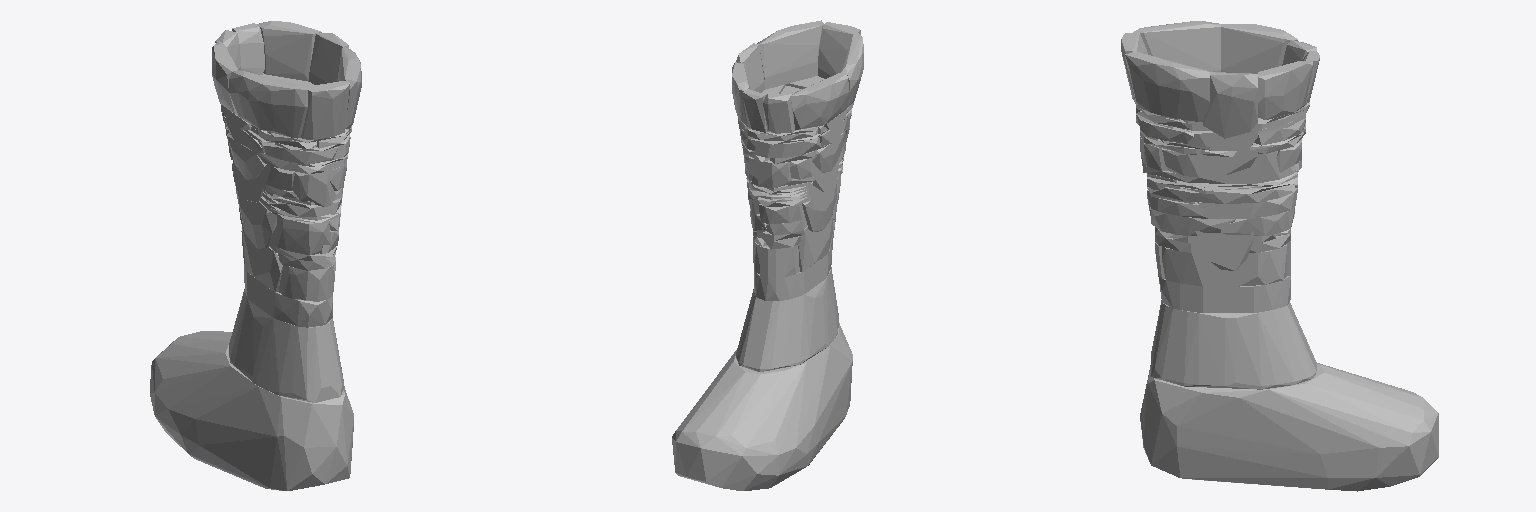
--- Render facts (derived) ---
3 views of the same robot in one strip: view 1: azimuth 30°, elevation 25°; view 2: azimuth 150°, elevation 25°; view 3: azimuth 270°, elevation 25° (orthographic).
Model root with 82 links and 81 joints (81 fixed), rooted at link_ca95ce22929fd53a570c6c691c987a8_convex_piece_0, posed all joints at 0.
Visible links, largest first — view 1: link_ca95ce22929fd53a570c6c691c987a8_convex_piece_0, link_ca95ce22929fd53a570c6c691c987a8_convex_piece_1, link_ca95ce22929fd53a570c6c691c987a8_convex_piece_11, link_ca95ce22929fd53a570c6c691c987a8_convex_piece_15, link_ca95ce22929fd53a570c6c691c987a8_convex_piece_2, link_ca95ce22929fd53a570c6c691c987a8_convex_piece_12, link_ca95ce22929fd53a570c6c691c987a8_convex_piece_54, link_ca95ce22929fd53a570c6c691c987a8_convex_piece_33, link_ca95ce22929fd53a570c6c691c987a8_convex_piece_14, link_ca95ce22929fd53a570c6c691c987a8_convex_piece_3, link_ca95ce22929fd53a570c6c691c987a8_convex_piece_7, link_ca95ce22929fd53a570c6c691c987a8_convex_piece_46 (+8 smaller); view 2: link_ca95ce22929fd53a570c6c691c987a8_convex_piece_0, link_ca95ce22929fd53a570c6c691c987a8_convex_piece_1, link_ca95ce22929fd53a570c6c691c987a8_convex_piece_5, link_ca95ce22929fd53a570c6c691c987a8_convex_piece_13, link_ca95ce22929fd53a570c6c691c987a8_convex_piece_2, link_ca95ce22929fd53a570c6c691c987a8_convex_piece_12, link_ca95ce22929fd53a570c6c691c987a8_convex_piece_35, link_ca95ce22929fd53a570c6c691c987a8_convex_piece_21, link_ca95ce22929fd53a570c6c691c987a8_convex_piece_3, link_ca95ce22929fd53a570c6c691c987a8_convex_piece_7, link_ca95ce22929fd53a570c6c691c987a8_convex_piece_11, link_ca95ce22929fd53a570c6c691c987a8_convex_piece_45 (+6 smaller); view 3: link_ca95ce22929fd53a570c6c691c987a8_convex_piece_0, link_ca95ce22929fd53a570c6c691c987a8_convex_piece_1, link_ca95ce22929fd53a570c6c691c987a8_convex_piece_5, link_ca95ce22929fd53a570c6c691c987a8_convex_piece_2, link_ca95ce22929fd53a570c6c691c987a8_convex_piece_11, link_ca95ce22929fd53a570c6c691c987a8_convex_piece_14, link_ca95ce22929fd53a570c6c691c987a8_convex_piece_13, link_ca95ce22929fd53a570c6c691c987a8_convex_piece_15, link_ca95ce22929fd53a570c6c691c987a8_convex_piece_34, link_ca95ce22929fd53a570c6c691c987a8_convex_piece_6, link_ca95ce22929fd53a570c6c691c987a8_convex_piece_36, link_ca95ce22929fd53a570c6c691c987a8_convex_piece_43 (+13 smaller).
Boxes of the visible links, x1,y1,x2,y2 form: link_ca95ce22929fd53a570c6c691c987a8_convex_piece_0: [150, 331, 353, 490]; link_ca95ce22929fd53a570c6c691c987a8_convex_piece_1: [229, 289, 344, 402]; link_ca95ce22929fd53a570c6c691c987a8_convex_piece_11: [229, 70, 307, 138]; link_ca95ce22929fd53a570c6c691c987a8_convex_piece_15: [257, 21, 321, 81]; link_ca95ce22929fd53a570c6c691c987a8_convex_piece_2: [244, 264, 332, 327]; link_ca95ce22929fd53a570c6c691c987a8_convex_piece_12: [301, 80, 349, 139]; link_ca95ce22929fd53a570c6c691c987a8_convex_piece_54: [271, 216, 330, 254]; link_ca95ce22929fd53a570c6c691c987a8_convex_piece_33: [278, 265, 333, 301]; link_ca95ce22929fd53a570c6c691c987a8_convex_piece_14: [309, 33, 348, 84]; link_ca95ce22929fd53a570c6c691c987a8_convex_piece_3: [242, 228, 282, 292]; link_ca95ce22929fd53a570c6c691c987a8_convex_piece_7: [236, 190, 276, 248]; link_ca95ce22929fd53a570c6c691c987a8_convex_piece_46: [292, 171, 335, 206]; link_ca95ce22929fd53a570c6c691c987a8_convex_piece_0: [672, 323, 852, 490]; link_ca95ce22929fd53a570c6c691c987a8_convex_piece_1: [736, 267, 838, 371]; link_ca95ce22929fd53a570c6c691c987a8_convex_piece_5: [757, 20, 823, 89]; link_ca95ce22929fd53a570c6c691c987a8_convex_piece_13: [790, 72, 849, 130]; link_ca95ce22929fd53a570c6c691c987a8_convex_piece_2: [754, 245, 832, 300]; link_ca95ce22929fd53a570c6c691c987a8_convex_piece_12: [818, 22, 860, 78]; link_ca95ce22929fd53a570c6c691c987a8_convex_piece_35: [760, 245, 799, 277]; link_ca95ce22929fd53a570c6c691c987a8_convex_piece_21: [763, 94, 794, 133]; link_ca95ce22929fd53a570c6c691c987a8_convex_piece_3: [798, 215, 832, 271]; link_ca95ce22929fd53a570c6c691c987a8_convex_piece_7: [802, 182, 836, 231]; link_ca95ce22929fd53a570c6c691c987a8_convex_piece_11: [841, 33, 863, 111]; link_ca95ce22929fd53a570c6c691c987a8_convex_piece_45: [753, 137, 822, 157]; link_ca95ce22929fd53a570c6c691c987a8_convex_piece_0: [1140, 363, 1438, 491]; link_ca95ce22929fd53a570c6c691c987a8_convex_piece_1: [1151, 300, 1316, 389]; link_ca95ce22929fd53a570c6c691c987a8_convex_piece_5: [1125, 52, 1209, 121]; link_ca95ce22929fd53a570c6c691c987a8_convex_piece_2: [1158, 276, 1290, 312]; link_ca95ce22929fd53a570c6c691c987a8_convex_piece_11: [1133, 21, 1220, 71]; link_ca95ce22929fd53a570c6c691c987a8_convex_piece_14: [1203, 72, 1257, 138]; link_ca95ce22929fd53a570c6c691c987a8_convex_piece_13: [1221, 24, 1297, 73]; link_ca95ce22929fd53a570c6c691c987a8_convex_piece_15: [1258, 61, 1312, 119]; link_ca95ce22929fd53a570c6c691c987a8_convex_piece_34: [1162, 246, 1238, 286]; link_ca95ce22929fd53a570c6c691c987a8_convex_piece_6: [1195, 231, 1253, 270]; link_ca95ce22929fd53a570c6c691c987a8_convex_piece_36: [1239, 244, 1286, 286]; link_ca95ce22929fd53a570c6c691c987a8_convex_piece_43: [1197, 192, 1294, 218].
Size in the robot's own frame: 0.0195 by 0.0454 by 0.0671 metres.
82 mesh visuals loaded from 82 distinct referenced files (82 OBJ).

URDF robot description (root):
<robot name="root">
  <link name="link_ca95ce22929fd53a570c6c691c987a8_convex_piece_0">
    <inertial>
      <origin rpy="0 0 0" xyz="0 0 0"/>
      <mass value="5.07E-06"/>
      <inertia ixx="2.37E-09" ixy="3.16E-13" ixz="5.63E-12" iyy="1.92E-09" iyz="-3.63E-10" izz="6.48E-10"/>
    </inertial>
    <visual>
      <origin rpy="0 0 0" xyz="0 0 0"/>
      <geometry>
        <mesh filename="ca95ce22929fd53a570c6c691c987a8_convex_piece_0.obj" scale="1.0000E+00"/>
      </geometry>
      <material name="">
        <color rgba="7.50E-01 7.50E-01 7.50E-01 1"/>
      </material>
    </visual>
    <collision>
      <origin rpy="0 0 0" xyz="0 0 0"/>
      <geometry>
        <mesh filename="ca95ce22929fd53a570c6c691c987a8_convex_piece_0.obj" scale="1.0000E+00"/>
      </geometry>
    </collision>
  </link>
  <link name="link_ca95ce22929fd53a570c6c691c987a8_convex_piece_1">
    <inertial>
      <origin rpy="0 0 0" xyz="0 0 0"/>
      <mass value="1.33E-06"/>
      <inertia ixx="-1.21E-10" ixy="-6.57E-12" ixz="-7.08E-12" iyy="-2.12E-10" iyz="7.07E-11" izz="1.15E-10"/>
    </inertial>
    <visual>
      <origin rpy="0 0 0" xyz="0 0 0"/>
      <geometry>
        <mesh filename="ca95ce22929fd53a570c6c691c987a8_convex_piece_1.obj" scale="1.0000E+00"/>
      </geometry>
      <material name="">
        <color rgba="7.50E-01 7.50E-01 7.50E-01 1"/>
      </material>
    </visual>
    <collision>
      <origin rpy="0 0 0" xyz="0 0 0"/>
      <geometry>
        <mesh filename="ca95ce22929fd53a570c6c691c987a8_convex_piece_1.obj" scale="1.0000E+00"/>
      </geometry>
    </collision>
  </link>
  <joint name="link_ca95ce22929fd53a570c6c691c987a8_convex_piece_1_joint" type="fixed">
    <origin rpy="0 0 0" xyz="0 0 0"/>
    <parent link="link_ca95ce22929fd53a570c6c691c987a8_convex_piece_0"/>
    <child link="link_ca95ce22929fd53a570c6c691c987a8_convex_piece_1"/>
  </joint>
  <link name="link_ca95ce22929fd53a570c6c691c987a8_convex_piece_2">
    <inertial>
      <origin rpy="0 0 0" xyz="0 0 0"/>
      <mass value="3.63E-07"/>
      <inertia ixx="-8.63E-11" ixy="-1.48E-12" ixz="7.81E-13" iyy="-1.13E-10" iyz="-5.55E-13" izz="3.13E-11"/>
    </inertial>
    <visual>
      <origin rpy="0 0 0" xyz="0 0 0"/>
      <geometry>
        <mesh filename="ca95ce22929fd53a570c6c691c987a8_convex_piece_2.obj" scale="1.0000E+00"/>
      </geometry>
      <material name="">
        <color rgba="7.50E-01 7.50E-01 7.50E-01 1"/>
      </material>
    </visual>
    <collision>
      <origin rpy="0 0 0" xyz="0 0 0"/>
      <geometry>
        <mesh filename="ca95ce22929fd53a570c6c691c987a8_convex_piece_2.obj" scale="1.0000E+00"/>
      </geometry>
    </collision>
  </link>
  <joint name="link_ca95ce22929fd53a570c6c691c987a8_convex_piece_2_joint" type="fixed">
    <origin rpy="0 0 0" xyz="0 0 0"/>
    <parent link="link_ca95ce22929fd53a570c6c691c987a8_convex_piece_1"/>
    <child link="link_ca95ce22929fd53a570c6c691c987a8_convex_piece_2"/>
  </joint>
  <link name="link_ca95ce22929fd53a570c6c691c987a8_convex_piece_3">
    <inertial>
      <origin rpy="0 0 0" xyz="0 0 0"/>
      <mass value="3.62E-08"/>
      <inertia ixx="-9.80E-12" ixy="1.11E-12" ixz="1.48E-14" iyy="-1.16E-11" iyz="-1.64E-12" izz="2.86E-12"/>
    </inertial>
    <visual>
      <origin rpy="0 0 0" xyz="0 0 0"/>
      <geometry>
        <mesh filename="ca95ce22929fd53a570c6c691c987a8_convex_piece_3.obj" scale="1.0000E+00"/>
      </geometry>
      <material name="">
        <color rgba="7.50E-01 7.50E-01 7.50E-01 1"/>
      </material>
    </visual>
    <collision>
      <origin rpy="0 0 0" xyz="0 0 0"/>
      <geometry>
        <mesh filename="ca95ce22929fd53a570c6c691c987a8_convex_piece_3.obj" scale="1.0000E+00"/>
      </geometry>
    </collision>
  </link>
  <joint name="link_ca95ce22929fd53a570c6c691c987a8_convex_piece_3_joint" type="fixed">
    <origin rpy="0 0 0" xyz="0 0 0"/>
    <parent link="link_ca95ce22929fd53a570c6c691c987a8_convex_piece_2"/>
    <child link="link_ca95ce22929fd53a570c6c691c987a8_convex_piece_3"/>
  </joint>
  <link name="link_ca95ce22929fd53a570c6c691c987a8_convex_piece_4">
    <inertial>
      <origin rpy="0 0 0" xyz="0 0 0"/>
      <mass value="2.13E-08"/>
      <inertia ixx="1.05E-12" ixy="1.07E-12" ixz="-2.39E-12" iyy="6.35E-13" iyz="-3.75E-12" izz="2.20E-12"/>
    </inertial>
    <visual>
      <origin rpy="0 0 0" xyz="0 0 0"/>
      <geometry>
        <mesh filename="ca95ce22929fd53a570c6c691c987a8_convex_piece_4.obj" scale="1.0000E+00"/>
      </geometry>
      <material name="">
        <color rgba="7.50E-01 7.50E-01 7.50E-01 1"/>
      </material>
    </visual>
    <collision>
      <origin rpy="0 0 0" xyz="0 0 0"/>
      <geometry>
        <mesh filename="ca95ce22929fd53a570c6c691c987a8_convex_piece_4.obj" scale="1.0000E+00"/>
      </geometry>
    </collision>
  </link>
  <joint name="link_ca95ce22929fd53a570c6c691c987a8_convex_piece_4_joint" type="fixed">
    <origin rpy="0 0 0" xyz="0 0 0"/>
    <parent link="link_ca95ce22929fd53a570c6c691c987a8_convex_piece_3"/>
    <child link="link_ca95ce22929fd53a570c6c691c987a8_convex_piece_4"/>
  </joint>
  <link name="link_ca95ce22929fd53a570c6c691c987a8_convex_piece_5">
    <inertial>
      <origin rpy="0 0 0" xyz="0 0 0"/>
      <mass value="1.53E-07"/>
      <inertia ixx="1.21E-10" ixy="-1.36E-11" ixz="2.74E-11" iyy="8.74E-11" iyz="-7.73E-11" izz="4.51E-11"/>
    </inertial>
    <visual>
      <origin rpy="0 0 0" xyz="0 0 0"/>
      <geometry>
        <mesh filename="ca95ce22929fd53a570c6c691c987a8_convex_piece_5.obj" scale="1.0000E+00"/>
      </geometry>
      <material name="">
        <color rgba="7.50E-01 7.50E-01 7.50E-01 1"/>
      </material>
    </visual>
    <collision>
      <origin rpy="0 0 0" xyz="0 0 0"/>
      <geometry>
        <mesh filename="ca95ce22929fd53a570c6c691c987a8_convex_piece_5.obj" scale="1.0000E+00"/>
      </geometry>
    </collision>
  </link>
  <joint name="link_ca95ce22929fd53a570c6c691c987a8_convex_piece_5_joint" type="fixed">
    <origin rpy="0 0 0" xyz="0 0 0"/>
    <parent link="link_ca95ce22929fd53a570c6c691c987a8_convex_piece_4"/>
    <child link="link_ca95ce22929fd53a570c6c691c987a8_convex_piece_5"/>
  </joint>
  <link name="link_ca95ce22929fd53a570c6c691c987a8_convex_piece_6">
    <inertial>
      <origin rpy="0 0 0" xyz="0 0 0"/>
      <mass value="1.18E-08"/>
      <inertia ixx="-3.08E-12" ixy="-4.77E-13" ixz="3.13E-13" iyy="-3.43E-12" iyz="-8.00E-13" izz="1.03E-12"/>
    </inertial>
    <visual>
      <origin rpy="0 0 0" xyz="0 0 0"/>
      <geometry>
        <mesh filename="ca95ce22929fd53a570c6c691c987a8_convex_piece_6.obj" scale="1.0000E+00"/>
      </geometry>
      <material name="">
        <color rgba="7.50E-01 7.50E-01 7.50E-01 1"/>
      </material>
    </visual>
    <collision>
      <origin rpy="0 0 0" xyz="0 0 0"/>
      <geometry>
        <mesh filename="ca95ce22929fd53a570c6c691c987a8_convex_piece_6.obj" scale="1.0000E+00"/>
      </geometry>
    </collision>
  </link>
  <joint name="link_ca95ce22929fd53a570c6c691c987a8_convex_piece_6_joint" type="fixed">
    <origin rpy="0 0 0" xyz="0 0 0"/>
    <parent link="link_ca95ce22929fd53a570c6c691c987a8_convex_piece_5"/>
    <child link="link_ca95ce22929fd53a570c6c691c987a8_convex_piece_6"/>
  </joint>
  <link name="link_ca95ce22929fd53a570c6c691c987a8_convex_piece_7">
    <inertial>
      <origin rpy="0 0 0" xyz="0 0 0"/>
      <mass value="3.21E-08"/>
      <inertia ixx="-6.72E-12" ixy="1.23E-12" ixz="-1.10E-12" iyy="-7.97E-12" iyz="-3.17E-12" izz="2.77E-12"/>
    </inertial>
    <visual>
      <origin rpy="0 0 0" xyz="0 0 0"/>
      <geometry>
        <mesh filename="ca95ce22929fd53a570c6c691c987a8_convex_piece_7.obj" scale="1.0000E+00"/>
      </geometry>
      <material name="">
        <color rgba="7.50E-01 7.50E-01 7.50E-01 1"/>
      </material>
    </visual>
    <collision>
      <origin rpy="0 0 0" xyz="0 0 0"/>
      <geometry>
        <mesh filename="ca95ce22929fd53a570c6c691c987a8_convex_piece_7.obj" scale="1.0000E+00"/>
      </geometry>
    </collision>
  </link>
  <joint name="link_ca95ce22929fd53a570c6c691c987a8_convex_piece_7_joint" type="fixed">
    <origin rpy="0 0 0" xyz="0 0 0"/>
    <parent link="link_ca95ce22929fd53a570c6c691c987a8_convex_piece_6"/>
    <child link="link_ca95ce22929fd53a570c6c691c987a8_convex_piece_7"/>
  </joint>
  <link name="link_ca95ce22929fd53a570c6c691c987a8_convex_piece_8">
    <inertial>
      <origin rpy="0 0 0" xyz="0 0 0"/>
      <mass value="1.56E-08"/>
      <inertia ixx="1.12E-12" ixy="-8.99E-13" ixz="1.15E-12" iyy="-1.41E-12" iyz="-3.71E-12" izz="3.22E-12"/>
    </inertial>
    <visual>
      <origin rpy="0 0 0" xyz="0 0 0"/>
      <geometry>
        <mesh filename="ca95ce22929fd53a570c6c691c987a8_convex_piece_8.obj" scale="1.0000E+00"/>
      </geometry>
      <material name="">
        <color rgba="7.50E-01 7.50E-01 7.50E-01 1"/>
      </material>
    </visual>
    <collision>
      <origin rpy="0 0 0" xyz="0 0 0"/>
      <geometry>
        <mesh filename="ca95ce22929fd53a570c6c691c987a8_convex_piece_8.obj" scale="1.0000E+00"/>
      </geometry>
    </collision>
  </link>
  <joint name="link_ca95ce22929fd53a570c6c691c987a8_convex_piece_8_joint" type="fixed">
    <origin rpy="0 0 0" xyz="0 0 0"/>
    <parent link="link_ca95ce22929fd53a570c6c691c987a8_convex_piece_7"/>
    <child link="link_ca95ce22929fd53a570c6c691c987a8_convex_piece_8"/>
  </joint>
  <link name="link_ca95ce22929fd53a570c6c691c987a8_convex_piece_9">
    <inertial>
      <origin rpy="0 0 0" xyz="0 0 0"/>
      <mass value="1.73E-08"/>
      <inertia ixx="-2.15E-12" ixy="3.61E-13" ixz="-6.61E-13" iyy="-2.64E-12" iyz="-1.81E-12" izz="9.20E-13"/>
    </inertial>
    <visual>
      <origin rpy="0 0 0" xyz="0 0 0"/>
      <geometry>
        <mesh filename="ca95ce22929fd53a570c6c691c987a8_convex_piece_9.obj" scale="1.0000E+00"/>
      </geometry>
      <material name="">
        <color rgba="7.50E-01 7.50E-01 7.50E-01 1"/>
      </material>
    </visual>
    <collision>
      <origin rpy="0 0 0" xyz="0 0 0"/>
      <geometry>
        <mesh filename="ca95ce22929fd53a570c6c691c987a8_convex_piece_9.obj" scale="1.0000E+00"/>
      </geometry>
    </collision>
  </link>
  <joint name="link_ca95ce22929fd53a570c6c691c987a8_convex_piece_9_joint" type="fixed">
    <origin rpy="0 0 0" xyz="0 0 0"/>
    <parent link="link_ca95ce22929fd53a570c6c691c987a8_convex_piece_8"/>
    <child link="link_ca95ce22929fd53a570c6c691c987a8_convex_piece_9"/>
  </joint>
  <link name="link_ca95ce22929fd53a570c6c691c987a8_convex_piece_10">
    <inertial>
      <origin rpy="0 0 0" xyz="0 0 0"/>
      <mass value="8.10E-09"/>
      <inertia ixx="5.58E-13" ixy="-4.16E-13" ixz="1.09E-12" iyy="4.91E-13" iyz="-1.43E-12" izz="8.46E-13"/>
    </inertial>
    <visual>
      <origin rpy="0 0 0" xyz="0 0 0"/>
      <geometry>
        <mesh filename="ca95ce22929fd53a570c6c691c987a8_convex_piece_10.obj" scale="1.0000E+00"/>
      </geometry>
      <material name="">
        <color rgba="7.50E-01 7.50E-01 7.50E-01 1"/>
      </material>
    </visual>
    <collision>
      <origin rpy="0 0 0" xyz="0 0 0"/>
      <geometry>
        <mesh filename="ca95ce22929fd53a570c6c691c987a8_convex_piece_10.obj" scale="1.0000E+00"/>
      </geometry>
    </collision>
  </link>
  <joint name="link_ca95ce22929fd53a570c6c691c987a8_convex_piece_10_joint" type="fixed">
    <origin rpy="0 0 0" xyz="0 0 0"/>
    <parent link="link_ca95ce22929fd53a570c6c691c987a8_convex_piece_9"/>
    <child link="link_ca95ce22929fd53a570c6c691c987a8_convex_piece_10"/>
  </joint>
  <link name="link_ca95ce22929fd53a570c6c691c987a8_convex_piece_11">
    <inertial>
      <origin rpy="0 0 0" xyz="0 0 0"/>
      <mass value="1.45E-07"/>
      <inertia ixx="1.07E-10" ixy="1.35E-11" ixz="-2.78E-11" iyy="8.30E-11" iyz="-6.65E-11" izz="3.74E-11"/>
    </inertial>
    <visual>
      <origin rpy="0 0 0" xyz="0 0 0"/>
      <geometry>
        <mesh filename="ca95ce22929fd53a570c6c691c987a8_convex_piece_11.obj" scale="1.0000E+00"/>
      </geometry>
      <material name="">
        <color rgba="7.50E-01 7.50E-01 7.50E-01 1"/>
      </material>
    </visual>
    <collision>
      <origin rpy="0 0 0" xyz="0 0 0"/>
      <geometry>
        <mesh filename="ca95ce22929fd53a570c6c691c987a8_convex_piece_11.obj" scale="1.0000E+00"/>
      </geometry>
    </collision>
  </link>
  <joint name="link_ca95ce22929fd53a570c6c691c987a8_convex_piece_11_joint" type="fixed">
    <origin rpy="0 0 0" xyz="0 0 0"/>
    <parent link="link_ca95ce22929fd53a570c6c691c987a8_convex_piece_10"/>
    <child link="link_ca95ce22929fd53a570c6c691c987a8_convex_piece_11"/>
  </joint>
  <link name="link_ca95ce22929fd53a570c6c691c987a8_convex_piece_12">
    <inertial>
      <origin rpy="0 0 0" xyz="0 0 0"/>
      <mass value="8.89E-08"/>
      <inertia ixx="8.29E-11" ixy="1.53E-12" ixz="-1.74E-12" iyy="4.64E-11" iyz="-5.64E-11" izz="3.71E-11"/>
    </inertial>
    <visual>
      <origin rpy="0 0 0" xyz="0 0 0"/>
      <geometry>
        <mesh filename="ca95ce22929fd53a570c6c691c987a8_convex_piece_12.obj" scale="1.0000E+00"/>
      </geometry>
      <material name="">
        <color rgba="7.50E-01 7.50E-01 7.50E-01 1"/>
      </material>
    </visual>
    <collision>
      <origin rpy="0 0 0" xyz="0 0 0"/>
      <geometry>
        <mesh filename="ca95ce22929fd53a570c6c691c987a8_convex_piece_12.obj" scale="1.0000E+00"/>
      </geometry>
    </collision>
  </link>
  <joint name="link_ca95ce22929fd53a570c6c691c987a8_convex_piece_12_joint" type="fixed">
    <origin rpy="0 0 0" xyz="0 0 0"/>
    <parent link="link_ca95ce22929fd53a570c6c691c987a8_convex_piece_11"/>
    <child link="link_ca95ce22929fd53a570c6c691c987a8_convex_piece_12"/>
  </joint>
  <link name="link_ca95ce22929fd53a570c6c691c987a8_convex_piece_13">
    <inertial>
      <origin rpy="0 0 0" xyz="0 0 0"/>
      <mass value="1.14E-07"/>
      <inertia ixx="5.89E-11" ixy="3.20E-12" ixz="-2.35E-11" iyy="6.33E-11" iyz="-1.56E-11" izz="7.98E-12"/>
    </inertial>
    <visual>
      <origin rpy="0 0 0" xyz="0 0 0"/>
      <geometry>
        <mesh filename="ca95ce22929fd53a570c6c691c987a8_convex_piece_13.obj" scale="1.0000E+00"/>
      </geometry>
      <material name="">
        <color rgba="7.50E-01 7.50E-01 7.50E-01 1"/>
      </material>
    </visual>
    <collision>
      <origin rpy="0 0 0" xyz="0 0 0"/>
      <geometry>
        <mesh filename="ca95ce22929fd53a570c6c691c987a8_convex_piece_13.obj" scale="1.0000E+00"/>
      </geometry>
    </collision>
  </link>
  <joint name="link_ca95ce22929fd53a570c6c691c987a8_convex_piece_13_joint" type="fixed">
    <origin rpy="0 0 0" xyz="0 0 0"/>
    <parent link="link_ca95ce22929fd53a570c6c691c987a8_convex_piece_12"/>
    <child link="link_ca95ce22929fd53a570c6c691c987a8_convex_piece_13"/>
  </joint>
  <link name="link_ca95ce22929fd53a570c6c691c987a8_convex_piece_14">
    <inertial>
      <origin rpy="0 0 0" xyz="0 0 0"/>
      <mass value="7.69E-08"/>
      <inertia ixx="3.92E-11" ixy="-4.31E-12" ixz="1.84E-11" iyy="4.09E-11" iyz="-1.76E-11" izz="8.86E-12"/>
    </inertial>
    <visual>
      <origin rpy="0 0 0" xyz="0 0 0"/>
      <geometry>
        <mesh filename="ca95ce22929fd53a570c6c691c987a8_convex_piece_14.obj" scale="1.0000E+00"/>
      </geometry>
      <material name="">
        <color rgba="7.50E-01 7.50E-01 7.50E-01 1"/>
      </material>
    </visual>
    <collision>
      <origin rpy="0 0 0" xyz="0 0 0"/>
      <geometry>
        <mesh filename="ca95ce22929fd53a570c6c691c987a8_convex_piece_14.obj" scale="1.0000E+00"/>
      </geometry>
    </collision>
  </link>
  <joint name="link_ca95ce22929fd53a570c6c691c987a8_convex_piece_14_joint" type="fixed">
    <origin rpy="0 0 0" xyz="0 0 0"/>
    <parent link="link_ca95ce22929fd53a570c6c691c987a8_convex_piece_13"/>
    <child link="link_ca95ce22929fd53a570c6c691c987a8_convex_piece_14"/>
  </joint>
  <link name="link_ca95ce22929fd53a570c6c691c987a8_convex_piece_15">
    <inertial>
      <origin rpy="0 0 0" xyz="0 0 0"/>
      <mass value="8.61E-08"/>
      <inertia ixx="4.32E-11" ixy="2.10E-14" ixz="1.40E-11" iyy="4.60E-11" iyz="-2.10E-12" izz="2.76E-12"/>
    </inertial>
    <visual>
      <origin rpy="0 0 0" xyz="0 0 0"/>
      <geometry>
        <mesh filename="ca95ce22929fd53a570c6c691c987a8_convex_piece_15.obj" scale="1.0000E+00"/>
      </geometry>
      <material name="">
        <color rgba="7.50E-01 7.50E-01 7.50E-01 1"/>
      </material>
    </visual>
    <collision>
      <origin rpy="0 0 0" xyz="0 0 0"/>
      <geometry>
        <mesh filename="ca95ce22929fd53a570c6c691c987a8_convex_piece_15.obj" scale="1.0000E+00"/>
      </geometry>
    </collision>
  </link>
  <joint name="link_ca95ce22929fd53a570c6c691c987a8_convex_piece_15_joint" type="fixed">
    <origin rpy="0 0 0" xyz="0 0 0"/>
    <parent link="link_ca95ce22929fd53a570c6c691c987a8_convex_piece_14"/>
    <child link="link_ca95ce22929fd53a570c6c691c987a8_convex_piece_15"/>
  </joint>
  <link name="link_ca95ce22929fd53a570c6c691c987a8_convex_piece_16">
    <inertial>
      <origin rpy="0 0 0" xyz="0 0 0"/>
      <mass value="1.97E-08"/>
      <inertia ixx="-3.30E-12" ixy="1.79E-13" ixz="-3.18E-13" iyy="-3.36E-12" iyz="-1.36E-12" izz="3.77E-13"/>
    </inertial>
    <visual>
      <origin rpy="0 0 0" xyz="0 0 0"/>
      <geometry>
        <mesh filename="ca95ce22929fd53a570c6c691c987a8_convex_piece_16.obj" scale="1.0000E+00"/>
      </geometry>
      <material name="">
        <color rgba="7.50E-01 7.50E-01 7.50E-01 1"/>
      </material>
    </visual>
    <collision>
      <origin rpy="0 0 0" xyz="0 0 0"/>
      <geometry>
        <mesh filename="ca95ce22929fd53a570c6c691c987a8_convex_piece_16.obj" scale="1.0000E+00"/>
      </geometry>
    </collision>
  </link>
  <joint name="link_ca95ce22929fd53a570c6c691c987a8_convex_piece_16_joint" type="fixed">
    <origin rpy="0 0 0" xyz="0 0 0"/>
    <parent link="link_ca95ce22929fd53a570c6c691c987a8_convex_piece_15"/>
    <child link="link_ca95ce22929fd53a570c6c691c987a8_convex_piece_16"/>
  </joint>
  <link name="link_ca95ce22929fd53a570c6c691c987a8_convex_piece_17">
    <inertial>
      <origin rpy="0 0 0" xyz="0 0 0"/>
      <mass value="6.15E-09"/>
      <inertia ixx="-6.59E-13" ixy="2.76E-13" ixz="-4.33E-13" iyy="-8.22E-13" iyz="-8.48E-13" izz="5.66E-13"/>
    </inertial>
    <visual>
      <origin rpy="0 0 0" xyz="0 0 0"/>
      <geometry>
        <mesh filename="ca95ce22929fd53a570c6c691c987a8_convex_piece_17.obj" scale="1.0000E+00"/>
      </geometry>
      <material name="">
        <color rgba="7.50E-01 7.50E-01 7.50E-01 1"/>
      </material>
    </visual>
    <collision>
      <origin rpy="0 0 0" xyz="0 0 0"/>
      <geometry>
        <mesh filename="ca95ce22929fd53a570c6c691c987a8_convex_piece_17.obj" scale="1.0000E+00"/>
      </geometry>
    </collision>
  </link>
  <joint name="link_ca95ce22929fd53a570c6c691c987a8_convex_piece_17_joint" type="fixed">
    <origin rpy="0 0 0" xyz="0 0 0"/>
    <parent link="link_ca95ce22929fd53a570c6c691c987a8_convex_piece_16"/>
    <child link="link_ca95ce22929fd53a570c6c691c987a8_convex_piece_17"/>
  </joint>
  <link name="link_ca95ce22929fd53a570c6c691c987a8_convex_piece_18">
    <inertial>
      <origin rpy="0 0 0" xyz="0 0 0"/>
      <mass value="2.71E-08"/>
      <inertia ixx="-3.85E-12" ixy="7.25E-14" ixz="3.62E-14" iyy="-3.86E-12" iyz="-1.94E-12" izz="4.58E-13"/>
    </inertial>
    <visual>
      <origin rpy="0 0 0" xyz="0 0 0"/>
      <geometry>
        <mesh filename="ca95ce22929fd53a570c6c691c987a8_convex_piece_18.obj" scale="1.0000E+00"/>
      </geometry>
      <material name="">
        <color rgba="7.50E-01 7.50E-01 7.50E-01 1"/>
      </material>
    </visual>
    <collision>
      <origin rpy="0 0 0" xyz="0 0 0"/>
      <geometry>
        <mesh filename="ca95ce22929fd53a570c6c691c987a8_convex_piece_18.obj" scale="1.0000E+00"/>
      </geometry>
    </collision>
  </link>
  <joint name="link_ca95ce22929fd53a570c6c691c987a8_convex_piece_18_joint" type="fixed">
    <origin rpy="0 0 0" xyz="0 0 0"/>
    <parent link="link_ca95ce22929fd53a570c6c691c987a8_convex_piece_17"/>
    <child link="link_ca95ce22929fd53a570c6c691c987a8_convex_piece_18"/>
  </joint>
  <link name="link_ca95ce22929fd53a570c6c691c987a8_convex_piece_19">
    <inertial>
      <origin rpy="0 0 0" xyz="0 0 0"/>
      <mass value="1.73E-08"/>
      <inertia ixx="1.69E-13" ixy="-6.74E-13" ixz="9.51E-13" iyy="-2.33E-12" iyz="-3.53E-12" izz="3.06E-12"/>
    </inertial>
    <visual>
      <origin rpy="0 0 0" xyz="0 0 0"/>
      <geometry>
        <mesh filename="ca95ce22929fd53a570c6c691c987a8_convex_piece_19.obj" scale="1.0000E+00"/>
      </geometry>
      <material name="">
        <color rgba="7.50E-01 7.50E-01 7.50E-01 1"/>
      </material>
    </visual>
    <collision>
      <origin rpy="0 0 0" xyz="0 0 0"/>
      <geometry>
        <mesh filename="ca95ce22929fd53a570c6c691c987a8_convex_piece_19.obj" scale="1.0000E+00"/>
      </geometry>
    </collision>
  </link>
  <joint name="link_ca95ce22929fd53a570c6c691c987a8_convex_piece_19_joint" type="fixed">
    <origin rpy="0 0 0" xyz="0 0 0"/>
    <parent link="link_ca95ce22929fd53a570c6c691c987a8_convex_piece_18"/>
    <child link="link_ca95ce22929fd53a570c6c691c987a8_convex_piece_19"/>
  </joint>
  <link name="link_ca95ce22929fd53a570c6c691c987a8_convex_piece_20">
    <inertial>
      <origin rpy="0 0 0" xyz="0 0 0"/>
      <mass value="2.15E-08"/>
      <inertia ixx="-3.27E-12" ixy="-8.80E-13" ixz="3.69E-13" iyy="-6.73E-12" iyz="-1.82E-12" izz="3.99E-12"/>
    </inertial>
    <visual>
      <origin rpy="0 0 0" xyz="0 0 0"/>
      <geometry>
        <mesh filename="ca95ce22929fd53a570c6c691c987a8_convex_piece_20.obj" scale="1.0000E+00"/>
      </geometry>
      <material name="">
        <color rgba="7.50E-01 7.50E-01 7.50E-01 1"/>
      </material>
    </visual>
    <collision>
      <origin rpy="0 0 0" xyz="0 0 0"/>
      <geometry>
        <mesh filename="ca95ce22929fd53a570c6c691c987a8_convex_piece_20.obj" scale="1.0000E+00"/>
      </geometry>
    </collision>
  </link>
  <joint name="link_ca95ce22929fd53a570c6c691c987a8_convex_piece_20_joint" type="fixed">
    <origin rpy="0 0 0" xyz="0 0 0"/>
    <parent link="link_ca95ce22929fd53a570c6c691c987a8_convex_piece_19"/>
    <child link="link_ca95ce22929fd53a570c6c691c987a8_convex_piece_20"/>
  </joint>
  <link name="link_ca95ce22929fd53a570c6c691c987a8_convex_piece_21">
    <inertial>
      <origin rpy="0 0 0" xyz="0 0 0"/>
      <mass value="3.99E-08"/>
      <inertia ixx="1.93E-11" ixy="-2.96E-13" ixz="-3.42E-12" iyy="1.95E-11" iyz="1.65E-12" izz="6.23E-13"/>
    </inertial>
    <visual>
      <origin rpy="0 0 0" xyz="0 0 0"/>
      <geometry>
        <mesh filename="ca95ce22929fd53a570c6c691c987a8_convex_piece_21.obj" scale="1.0000E+00"/>
      </geometry>
      <material name="">
        <color rgba="7.50E-01 7.50E-01 7.50E-01 1"/>
      </material>
    </visual>
    <collision>
      <origin rpy="0 0 0" xyz="0 0 0"/>
      <geometry>
        <mesh filename="ca95ce22929fd53a570c6c691c987a8_convex_piece_21.obj" scale="1.0000E+00"/>
      </geometry>
    </collision>
  </link>
  <joint name="link_ca95ce22929fd53a570c6c691c987a8_convex_piece_21_joint" type="fixed">
    <origin rpy="0 0 0" xyz="0 0 0"/>
    <parent link="link_ca95ce22929fd53a570c6c691c987a8_convex_piece_20"/>
    <child link="link_ca95ce22929fd53a570c6c691c987a8_convex_piece_21"/>
  </joint>
  <link name="link_ca95ce22929fd53a570c6c691c987a8_convex_piece_22">
    <inertial>
      <origin rpy="0 0 0" xyz="0 0 0"/>
      <mass value="3.37E-08"/>
      <inertia ixx="1.65E-11" ixy="9.62E-14" ixz="7.79E-13" iyy="1.62E-11" iyz="2.45E-12" izz="4.20E-13"/>
    </inertial>
    <visual>
      <origin rpy="0 0 0" xyz="0 0 0"/>
      <geometry>
        <mesh filename="ca95ce22929fd53a570c6c691c987a8_convex_piece_22.obj" scale="1.0000E+00"/>
      </geometry>
      <material name="">
        <color rgba="7.50E-01 7.50E-01 7.50E-01 1"/>
      </material>
    </visual>
    <collision>
      <origin rpy="0 0 0" xyz="0 0 0"/>
      <geometry>
        <mesh filename="ca95ce22929fd53a570c6c691c987a8_convex_piece_22.obj" scale="1.0000E+00"/>
      </geometry>
    </collision>
  </link>
  <joint name="link_ca95ce22929fd53a570c6c691c987a8_convex_piece_22_joint" type="fixed">
    <origin rpy="0 0 0" xyz="0 0 0"/>
    <parent link="link_ca95ce22929fd53a570c6c691c987a8_convex_piece_21"/>
    <child link="link_ca95ce22929fd53a570c6c691c987a8_convex_piece_22"/>
  </joint>
  <link name="link_ca95ce22929fd53a570c6c691c987a8_convex_piece_23">
    <inertial>
      <origin rpy="0 0 0" xyz="0 0 0"/>
      <mass value="2.62E-08"/>
      <inertia ixx="1.08E-11" ixy="-1.72E-12" ixz="2.53E-12" iyy="4.24E-12" iyz="-1.04E-11" izz="7.63E-12"/>
    </inertial>
    <visual>
      <origin rpy="0 0 0" xyz="0 0 0"/>
      <geometry>
        <mesh filename="ca95ce22929fd53a570c6c691c987a8_convex_piece_23.obj" scale="1.0000E+00"/>
      </geometry>
      <material name="">
        <color rgba="7.50E-01 7.50E-01 7.50E-01 1"/>
      </material>
    </visual>
    <collision>
      <origin rpy="0 0 0" xyz="0 0 0"/>
      <geometry>
        <mesh filename="ca95ce22929fd53a570c6c691c987a8_convex_piece_23.obj" scale="1.0000E+00"/>
      </geometry>
    </collision>
  </link>
  <joint name="link_ca95ce22929fd53a570c6c691c987a8_convex_piece_23_joint" type="fixed">
    <origin rpy="0 0 0" xyz="0 0 0"/>
    <parent link="link_ca95ce22929fd53a570c6c691c987a8_convex_piece_22"/>
    <child link="link_ca95ce22929fd53a570c6c691c987a8_convex_piece_23"/>
  </joint>
  <link name="link_ca95ce22929fd53a570c6c691c987a8_convex_piece_24">
    <inertial>
      <origin rpy="0 0 0" xyz="0 0 0"/>
      <mass value="2.11E-08"/>
      <inertia ixx="4.46E-12" ixy="-1.17E-12" ixz="3.25E-12" iyy="3.94E-12" iyz="-4.58E-12" izz="2.48E-12"/>
    </inertial>
    <visual>
      <origin rpy="0 0 0" xyz="0 0 0"/>
      <geometry>
        <mesh filename="ca95ce22929fd53a570c6c691c987a8_convex_piece_24.obj" scale="1.0000E+00"/>
      </geometry>
      <material name="">
        <color rgba="7.50E-01 7.50E-01 7.50E-01 1"/>
      </material>
    </visual>
    <collision>
      <origin rpy="0 0 0" xyz="0 0 0"/>
      <geometry>
        <mesh filename="ca95ce22929fd53a570c6c691c987a8_convex_piece_24.obj" scale="1.0000E+00"/>
      </geometry>
    </collision>
  </link>
  <joint name="link_ca95ce22929fd53a570c6c691c987a8_convex_piece_24_joint" type="fixed">
    <origin rpy="0 0 0" xyz="0 0 0"/>
    <parent link="link_ca95ce22929fd53a570c6c691c987a8_convex_piece_23"/>
    <child link="link_ca95ce22929fd53a570c6c691c987a8_convex_piece_24"/>
  </joint>
  <link name="link_ca95ce22929fd53a570c6c691c987a8_convex_piece_25">
    <inertial>
      <origin rpy="0 0 0" xyz="0 0 0"/>
      <mass value="1.71E-08"/>
      <inertia ixx="1.51E-13" ixy="-6.94E-14" ixz="1.40E-13" iyy="-3.60E-12" iyz="-3.48E-12" izz="3.97E-12"/>
    </inertial>
    <visual>
      <origin rpy="0 0 0" xyz="0 0 0"/>
      <geometry>
        <mesh filename="ca95ce22929fd53a570c6c691c987a8_convex_piece_25.obj" scale="1.0000E+00"/>
      </geometry>
      <material name="">
        <color rgba="7.50E-01 7.50E-01 7.50E-01 1"/>
      </material>
    </visual>
    <collision>
      <origin rpy="0 0 0" xyz="0 0 0"/>
      <geometry>
        <mesh filename="ca95ce22929fd53a570c6c691c987a8_convex_piece_25.obj" scale="1.0000E+00"/>
      </geometry>
    </collision>
  </link>
  <joint name="link_ca95ce22929fd53a570c6c691c987a8_convex_piece_25_joint" type="fixed">
    <origin rpy="0 0 0" xyz="0 0 0"/>
    <parent link="link_ca95ce22929fd53a570c6c691c987a8_convex_piece_24"/>
    <child link="link_ca95ce22929fd53a570c6c691c987a8_convex_piece_25"/>
  </joint>
  <link name="link_ca95ce22929fd53a570c6c691c987a8_convex_piece_26">
    <inertial>
      <origin rpy="0 0 0" xyz="0 0 0"/>
      <mass value="2.74E-08"/>
      <inertia ixx="3.83E-12" ixy="-1.51E-14" ixz="2.37E-12" iyy="4.30E-12" iyz="-7.29E-13" izz="4.58E-13"/>
    </inertial>
    <visual>
      <origin rpy="0 0 0" xyz="0 0 0"/>
      <geometry>
        <mesh filename="ca95ce22929fd53a570c6c691c987a8_convex_piece_26.obj" scale="1.0000E+00"/>
      </geometry>
      <material name="">
        <color rgba="7.50E-01 7.50E-01 7.50E-01 1"/>
      </material>
    </visual>
    <collision>
      <origin rpy="0 0 0" xyz="0 0 0"/>
      <geometry>
        <mesh filename="ca95ce22929fd53a570c6c691c987a8_convex_piece_26.obj" scale="1.0000E+00"/>
      </geometry>
    </collision>
  </link>
  <joint name="link_ca95ce22929fd53a570c6c691c987a8_convex_piece_26_joint" type="fixed">
    <origin rpy="0 0 0" xyz="0 0 0"/>
    <parent link="link_ca95ce22929fd53a570c6c691c987a8_convex_piece_25"/>
    <child link="link_ca95ce22929fd53a570c6c691c987a8_convex_piece_26"/>
  </joint>
  <link name="link_ca95ce22929fd53a570c6c691c987a8_convex_piece_27">
    <inertial>
      <origin rpy="0 0 0" xyz="0 0 0"/>
      <mass value="1.82E-08"/>
      <inertia ixx="-1.61E-12" ixy="-4.78E-13" ixz="1.16E-12" iyy="-2.13E-12" iyz="-2.17E-12" izz="1.20E-12"/>
    </inertial>
    <visual>
      <origin rpy="0 0 0" xyz="0 0 0"/>
      <geometry>
        <mesh filename="ca95ce22929fd53a570c6c691c987a8_convex_piece_27.obj" scale="1.0000E+00"/>
      </geometry>
      <material name="">
        <color rgba="7.50E-01 7.50E-01 7.50E-01 1"/>
      </material>
    </visual>
    <collision>
      <origin rpy="0 0 0" xyz="0 0 0"/>
      <geometry>
        <mesh filename="ca95ce22929fd53a570c6c691c987a8_convex_piece_27.obj" scale="1.0000E+00"/>
      </geometry>
    </collision>
  </link>
  <joint name="link_ca95ce22929fd53a570c6c691c987a8_convex_piece_27_joint" type="fixed">
    <origin rpy="0 0 0" xyz="0 0 0"/>
    <parent link="link_ca95ce22929fd53a570c6c691c987a8_convex_piece_26"/>
    <child link="link_ca95ce22929fd53a570c6c691c987a8_convex_piece_27"/>
  </joint>
  <link name="link_ca95ce22929fd53a570c6c691c987a8_convex_piece_28">
    <inertial>
      <origin rpy="0 0 0" xyz="0 0 0"/>
      <mass value="2.63E-08"/>
      <inertia ixx="6.96E-12" ixy="-1.43E-12" ixz="2.32E-12" iyy="1.95E-12" iyz="-8.41E-12" izz="6.13E-12"/>
    </inertial>
    <visual>
      <origin rpy="0 0 0" xyz="0 0 0"/>
      <geometry>
        <mesh filename="ca95ce22929fd53a570c6c691c987a8_convex_piece_28.obj" scale="1.0000E+00"/>
      </geometry>
      <material name="">
        <color rgba="7.50E-01 7.50E-01 7.50E-01 1"/>
      </material>
    </visual>
    <collision>
      <origin rpy="0 0 0" xyz="0 0 0"/>
      <geometry>
        <mesh filename="ca95ce22929fd53a570c6c691c987a8_convex_piece_28.obj" scale="1.0000E+00"/>
      </geometry>
    </collision>
  </link>
  <joint name="link_ca95ce22929fd53a570c6c691c987a8_convex_piece_28_joint" type="fixed">
    <origin rpy="0 0 0" xyz="0 0 0"/>
    <parent link="link_ca95ce22929fd53a570c6c691c987a8_convex_piece_27"/>
    <child link="link_ca95ce22929fd53a570c6c691c987a8_convex_piece_28"/>
  </joint>
  <link name="link_ca95ce22929fd53a570c6c691c987a8_convex_piece_29">
    <inertial>
      <origin rpy="0 0 0" xyz="0 0 0"/>
      <mass value="2.28E-08"/>
      <inertia ixx="4.74E-12" ixy="1.26E-12" ixz="-3.20E-12" iyy="4.14E-12" iyz="-4.93E-12" izz="2.63E-12"/>
    </inertial>
    <visual>
      <origin rpy="0 0 0" xyz="0 0 0"/>
      <geometry>
        <mesh filename="ca95ce22929fd53a570c6c691c987a8_convex_piece_29.obj" scale="1.0000E+00"/>
      </geometry>
      <material name="">
        <color rgba="7.50E-01 7.50E-01 7.50E-01 1"/>
      </material>
    </visual>
    <collision>
      <origin rpy="0 0 0" xyz="0 0 0"/>
      <geometry>
        <mesh filename="ca95ce22929fd53a570c6c691c987a8_convex_piece_29.obj" scale="1.0000E+00"/>
      </geometry>
    </collision>
  </link>
  <joint name="link_ca95ce22929fd53a570c6c691c987a8_convex_piece_29_joint" type="fixed">
    <origin rpy="0 0 0" xyz="0 0 0"/>
    <parent link="link_ca95ce22929fd53a570c6c691c987a8_convex_piece_28"/>
    <child link="link_ca95ce22929fd53a570c6c691c987a8_convex_piece_29"/>
  </joint>
  <link name="link_ca95ce22929fd53a570c6c691c987a8_convex_piece_30">
    <inertial>
      <origin rpy="0 0 0" xyz="0 0 0"/>
      <mass value="1.02E-08"/>
      <inertia ixx="1.45E-12" ixy="-6.13E-14" ixz="1.06E-13" iyy="-1.34E-12" iyz="-2.82E-12" izz="2.90E-12"/>
    </inertial>
    <visual>
      <origin rpy="0 0 0" xyz="0 0 0"/>
      <geometry>
        <mesh filename="ca95ce22929fd53a570c6c691c987a8_convex_piece_30.obj" scale="1.0000E+00"/>
      </geometry>
      <material name="">
        <color rgba="7.50E-01 7.50E-01 7.50E-01 1"/>
      </material>
    </visual>
    <collision>
      <origin rpy="0 0 0" xyz="0 0 0"/>
      <geometry>
        <mesh filename="ca95ce22929fd53a570c6c691c987a8_convex_piece_30.obj" scale="1.0000E+00"/>
      </geometry>
    </collision>
  </link>
  <joint name="link_ca95ce22929fd53a570c6c691c987a8_convex_piece_30_joint" type="fixed">
    <origin rpy="0 0 0" xyz="0 0 0"/>
    <parent link="link_ca95ce22929fd53a570c6c691c987a8_convex_piece_29"/>
    <child link="link_ca95ce22929fd53a570c6c691c987a8_convex_piece_30"/>
  </joint>
  <link name="link_ca95ce22929fd53a570c6c691c987a8_convex_piece_31">
    <inertial>
      <origin rpy="0 0 0" xyz="0 0 0"/>
      <mass value="3.69E-09"/>
      <inertia ixx="1.12E-12" ixy="2.16E-13" ixz="-6.83E-13" iyy="1.14E-12" iyz="-7.98E-13" izz="4.27E-13"/>
    </inertial>
    <visual>
      <origin rpy="0 0 0" xyz="0 0 0"/>
      <geometry>
        <mesh filename="ca95ce22929fd53a570c6c691c987a8_convex_piece_31.obj" scale="1.0000E+00"/>
      </geometry>
      <material name="">
        <color rgba="7.50E-01 7.50E-01 7.50E-01 1"/>
      </material>
    </visual>
    <collision>
      <origin rpy="0 0 0" xyz="0 0 0"/>
      <geometry>
        <mesh filename="ca95ce22929fd53a570c6c691c987a8_convex_piece_31.obj" scale="1.0000E+00"/>
      </geometry>
    </collision>
  </link>
  <joint name="link_ca95ce22929fd53a570c6c691c987a8_convex_piece_31_joint" type="fixed">
    <origin rpy="0 0 0" xyz="0 0 0"/>
    <parent link="link_ca95ce22929fd53a570c6c691c987a8_convex_piece_30"/>
    <child link="link_ca95ce22929fd53a570c6c691c987a8_convex_piece_31"/>
  </joint>
  <link name="link_ca95ce22929fd53a570c6c691c987a8_convex_piece_32">
    <inertial>
      <origin rpy="0 0 0" xyz="0 0 0"/>
      <mass value="2.10E-08"/>
      <inertia ixx="-1.93E-12" ixy="4.21E-13" ixz="-7.88E-13" iyy="-2.62E-12" iyz="-2.36E-12" izz="1.16E-12"/>
    </inertial>
    <visual>
      <origin rpy="0 0 0" xyz="0 0 0"/>
      <geometry>
        <mesh filename="ca95ce22929fd53a570c6c691c987a8_convex_piece_32.obj" scale="1.0000E+00"/>
      </geometry>
      <material name="">
        <color rgba="7.50E-01 7.50E-01 7.50E-01 1"/>
      </material>
    </visual>
    <collision>
      <origin rpy="0 0 0" xyz="0 0 0"/>
      <geometry>
        <mesh filename="ca95ce22929fd53a570c6c691c987a8_convex_piece_32.obj" scale="1.0000E+00"/>
      </geometry>
    </collision>
  </link>
  <joint name="link_ca95ce22929fd53a570c6c691c987a8_convex_piece_32_joint" type="fixed">
    <origin rpy="0 0 0" xyz="0 0 0"/>
    <parent link="link_ca95ce22929fd53a570c6c691c987a8_convex_piece_31"/>
    <child link="link_ca95ce22929fd53a570c6c691c987a8_convex_piece_32"/>
  </joint>
  <link name="link_ca95ce22929fd53a570c6c691c987a8_convex_piece_33">
    <inertial>
      <origin rpy="0 0 0" xyz="0 0 0"/>
      <mass value="1.66E-07"/>
      <inertia ixx="-2.95E-11" ixy="7.93E-13" ixz="7.84E-13" iyy="-5.55E-11" iyz="-6.09E-12" izz="2.69E-11"/>
    </inertial>
    <visual>
      <origin rpy="0 0 0" xyz="0 0 0"/>
      <geometry>
        <mesh filename="ca95ce22929fd53a570c6c691c987a8_convex_piece_33.obj" scale="1.0000E+00"/>
      </geometry>
      <material name="">
        <color rgba="7.50E-01 7.50E-01 7.50E-01 1"/>
      </material>
    </visual>
    <collision>
      <origin rpy="0 0 0" xyz="0 0 0"/>
      <geometry>
        <mesh filename="ca95ce22929fd53a570c6c691c987a8_convex_piece_33.obj" scale="1.0000E+00"/>
      </geometry>
    </collision>
  </link>
  <joint name="link_ca95ce22929fd53a570c6c691c987a8_convex_piece_33_joint" type="fixed">
    <origin rpy="0 0 0" xyz="0 0 0"/>
    <parent link="link_ca95ce22929fd53a570c6c691c987a8_convex_piece_32"/>
    <child link="link_ca95ce22929fd53a570c6c691c987a8_convex_piece_33"/>
  </joint>
  <link name="link_ca95ce22929fd53a570c6c691c987a8_convex_piece_34">
    <inertial>
      <origin rpy="0 0 0" xyz="0 0 0"/>
      <mass value="7.18E-08"/>
      <inertia ixx="-1.55E-11" ixy="-2.80E-12" ixz="3.94E-13" iyy="-2.32E-11" iyz="-2.78E-12" izz="9.73E-12"/>
    </inertial>
    <visual>
      <origin rpy="0 0 0" xyz="0 0 0"/>
      <geometry>
        <mesh filename="ca95ce22929fd53a570c6c691c987a8_convex_piece_34.obj" scale="1.0000E+00"/>
      </geometry>
      <material name="">
        <color rgba="7.50E-01 7.50E-01 7.50E-01 1"/>
      </material>
    </visual>
    <collision>
      <origin rpy="0 0 0" xyz="0 0 0"/>
      <geometry>
        <mesh filename="ca95ce22929fd53a570c6c691c987a8_convex_piece_34.obj" scale="1.0000E+00"/>
      </geometry>
    </collision>
  </link>
  <joint name="link_ca95ce22929fd53a570c6c691c987a8_convex_piece_34_joint" type="fixed">
    <origin rpy="0 0 0" xyz="0 0 0"/>
    <parent link="link_ca95ce22929fd53a570c6c691c987a8_convex_piece_33"/>
    <child link="link_ca95ce22929fd53a570c6c691c987a8_convex_piece_34"/>
  </joint>
  <link name="link_ca95ce22929fd53a570c6c691c987a8_convex_piece_35">
    <inertial>
      <origin rpy="0 0 0" xyz="0 0 0"/>
      <mass value="8.39E-08"/>
      <inertia ixx="-2.79E-11" ixy="2.53E-13" ixz="3.94E-13" iyy="-2.81E-11" iyz="-3.00E-12" izz="5.45E-13"/>
    </inertial>
    <visual>
      <origin rpy="0 0 0" xyz="0 0 0"/>
      <geometry>
        <mesh filename="ca95ce22929fd53a570c6c691c987a8_convex_piece_35.obj" scale="1.0000E+00"/>
      </geometry>
      <material name="">
        <color rgba="7.50E-01 7.50E-01 7.50E-01 1"/>
      </material>
    </visual>
    <collision>
      <origin rpy="0 0 0" xyz="0 0 0"/>
      <geometry>
        <mesh filename="ca95ce22929fd53a570c6c691c987a8_convex_piece_35.obj" scale="1.0000E+00"/>
      </geometry>
    </collision>
  </link>
  <joint name="link_ca95ce22929fd53a570c6c691c987a8_convex_piece_35_joint" type="fixed">
    <origin rpy="0 0 0" xyz="0 0 0"/>
    <parent link="link_ca95ce22929fd53a570c6c691c987a8_convex_piece_34"/>
    <child link="link_ca95ce22929fd53a570c6c691c987a8_convex_piece_35"/>
  </joint>
  <link name="link_ca95ce22929fd53a570c6c691c987a8_convex_piece_36">
    <inertial>
      <origin rpy="0 0 0" xyz="0 0 0"/>
      <mass value="5.99E-08"/>
      <inertia ixx="-1.98E-11" ixy="-5.24E-13" ixz="3.15E-13" iyy="-1.96E-11" iyz="-2.18E-12" izz="1.05E-12"/>
    </inertial>
    <visual>
      <origin rpy="0 0 0" xyz="0 0 0"/>
      <geometry>
        <mesh filename="ca95ce22929fd53a570c6c691c987a8_convex_piece_36.obj" scale="1.0000E+00"/>
      </geometry>
      <material name="">
        <color rgba="7.50E-01 7.50E-01 7.50E-01 1"/>
      </material>
    </visual>
    <collision>
      <origin rpy="0 0 0" xyz="0 0 0"/>
      <geometry>
        <mesh filename="ca95ce22929fd53a570c6c691c987a8_convex_piece_36.obj" scale="1.0000E+00"/>
      </geometry>
    </collision>
  </link>
  <joint name="link_ca95ce22929fd53a570c6c691c987a8_convex_piece_36_joint" type="fixed">
    <origin rpy="0 0 0" xyz="0 0 0"/>
    <parent link="link_ca95ce22929fd53a570c6c691c987a8_convex_piece_35"/>
    <child link="link_ca95ce22929fd53a570c6c691c987a8_convex_piece_36"/>
  </joint>
  <link name="link_ca95ce22929fd53a570c6c691c987a8_convex_piece_37">
    <inertial>
      <origin rpy="0 0 0" xyz="0 0 0"/>
      <mass value="4.54E-08"/>
      <inertia ixx="1.08E-11" ixy="2.52E-14" ixz="2.76E-13" iyy="1.13E-11" iyz="-1.59E-12" izz="4.87E-13"/>
    </inertial>
    <visual>
      <origin rpy="0 0 0" xyz="0 0 0"/>
      <geometry>
        <mesh filename="ca95ce22929fd53a570c6c691c987a8_convex_piece_37.obj" scale="1.0000E+00"/>
      </geometry>
      <material name="">
        <color rgba="7.50E-01 7.50E-01 7.50E-01 1"/>
      </material>
    </visual>
    <collision>
      <origin rpy="0 0 0" xyz="0 0 0"/>
      <geometry>
        <mesh filename="ca95ce22929fd53a570c6c691c987a8_convex_piece_37.obj" scale="1.0000E+00"/>
      </geometry>
    </collision>
  </link>
  <joint name="link_ca95ce22929fd53a570c6c691c987a8_convex_piece_37_joint" type="fixed">
    <origin rpy="0 0 0" xyz="0 0 0"/>
    <parent link="link_ca95ce22929fd53a570c6c691c987a8_convex_piece_36"/>
    <child link="link_ca95ce22929fd53a570c6c691c987a8_convex_piece_37"/>
  </joint>
  <link name="link_ca95ce22929fd53a570c6c691c987a8_convex_piece_38">
    <inertial>
      <origin rpy="0 0 0" xyz="0 0 0"/>
      <mass value="2.10E-08"/>
      <inertia ixx="1.19E-11" ixy="5.67E-15" ixz="1.08E-13" iyy="6.01E-12" iyz="-9.63E-12" izz="6.28E-12"/>
    </inertial>
    <visual>
      <origin rpy="0 0 0" xyz="0 0 0"/>
      <geometry>
        <mesh filename="ca95ce22929fd53a570c6c691c987a8_convex_piece_38.obj" scale="1.0000E+00"/>
      </geometry>
      <material name="">
        <color rgba="7.50E-01 7.50E-01 7.50E-01 1"/>
      </material>
    </visual>
    <collision>
      <origin rpy="0 0 0" xyz="0 0 0"/>
      <geometry>
        <mesh filename="ca95ce22929fd53a570c6c691c987a8_convex_piece_38.obj" scale="1.0000E+00"/>
      </geometry>
    </collision>
  </link>
  <joint name="link_ca95ce22929fd53a570c6c691c987a8_convex_piece_38_joint" type="fixed">
    <origin rpy="0 0 0" xyz="0 0 0"/>
    <parent link="link_ca95ce22929fd53a570c6c691c987a8_convex_piece_37"/>
    <child link="link_ca95ce22929fd53a570c6c691c987a8_convex_piece_38"/>
  </joint>
  <link name="link_ca95ce22929fd53a570c6c691c987a8_convex_piece_39">
    <inertial>
      <origin rpy="0 0 0" xyz="0 0 0"/>
      <mass value="2.54E-08"/>
      <inertia ixx="6.18E-12" ixy="-6.96E-13" ixz="2.89E-12" iyy="5.72E-12" iyz="-3.89E-12" izz="1.72E-12"/>
    </inertial>
    <visual>
      <origin rpy="0 0 0" xyz="0 0 0"/>
      <geometry>
        <mesh filename="ca95ce22929fd53a570c6c691c987a8_convex_piece_39.obj" scale="1.0000E+00"/>
      </geometry>
      <material name="">
        <color rgba="7.50E-01 7.50E-01 7.50E-01 1"/>
      </material>
    </visual>
    <collision>
      <origin rpy="0 0 0" xyz="0 0 0"/>
      <geometry>
        <mesh filename="ca95ce22929fd53a570c6c691c987a8_convex_piece_39.obj" scale="1.0000E+00"/>
      </geometry>
    </collision>
  </link>
  <joint name="link_ca95ce22929fd53a570c6c691c987a8_convex_piece_39_joint" type="fixed">
    <origin rpy="0 0 0" xyz="0 0 0"/>
    <parent link="link_ca95ce22929fd53a570c6c691c987a8_convex_piece_38"/>
    <child link="link_ca95ce22929fd53a570c6c691c987a8_convex_piece_39"/>
  </joint>
  <link name="link_ca95ce22929fd53a570c6c691c987a8_convex_piece_40">
    <inertial>
      <origin rpy="0 0 0" xyz="0 0 0"/>
      <mass value="2.03E-08"/>
      <inertia ixx="6.44E-12" ixy="-5.99E-13" ixz="2.71E-12" iyy="6.19E-12" iyz="-3.24E-12" izz="1.43E-12"/>
    </inertial>
    <visual>
      <origin rpy="0 0 0" xyz="0 0 0"/>
      <geometry>
        <mesh filename="ca95ce22929fd53a570c6c691c987a8_convex_piece_40.obj" scale="1.0000E+00"/>
      </geometry>
      <material name="">
        <color rgba="7.50E-01 7.50E-01 7.50E-01 1"/>
      </material>
    </visual>
    <collision>
      <origin rpy="0 0 0" xyz="0 0 0"/>
      <geometry>
        <mesh filename="ca95ce22929fd53a570c6c691c987a8_convex_piece_40.obj" scale="1.0000E+00"/>
      </geometry>
    </collision>
  </link>
  <joint name="link_ca95ce22929fd53a570c6c691c987a8_convex_piece_40_joint" type="fixed">
    <origin rpy="0 0 0" xyz="0 0 0"/>
    <parent link="link_ca95ce22929fd53a570c6c691c987a8_convex_piece_39"/>
    <child link="link_ca95ce22929fd53a570c6c691c987a8_convex_piece_40"/>
  </joint>
  <link name="link_ca95ce22929fd53a570c6c691c987a8_convex_piece_41">
    <inertial>
      <origin rpy="0 0 0" xyz="0 0 0"/>
      <mass value="5.46E-08"/>
      <inertia ixx="2.30E-11" ixy="-2.43E-12" ixz="5.61E-12" iyy="1.42E-11" iyz="-1.89E-11" izz="1.12E-11"/>
    </inertial>
    <visual>
      <origin rpy="0 0 0" xyz="0 0 0"/>
      <geometry>
        <mesh filename="ca95ce22929fd53a570c6c691c987a8_convex_piece_41.obj" scale="1.0000E+00"/>
      </geometry>
      <material name="">
        <color rgba="7.50E-01 7.50E-01 7.50E-01 1"/>
      </material>
    </visual>
    <collision>
      <origin rpy="0 0 0" xyz="0 0 0"/>
      <geometry>
        <mesh filename="ca95ce22929fd53a570c6c691c987a8_convex_piece_41.obj" scale="1.0000E+00"/>
      </geometry>
    </collision>
  </link>
  <joint name="link_ca95ce22929fd53a570c6c691c987a8_convex_piece_41_joint" type="fixed">
    <origin rpy="0 0 0" xyz="0 0 0"/>
    <parent link="link_ca95ce22929fd53a570c6c691c987a8_convex_piece_40"/>
    <child link="link_ca95ce22929fd53a570c6c691c987a8_convex_piece_41"/>
  </joint>
  <link name="link_ca95ce22929fd53a570c6c691c987a8_convex_piece_42">
    <inertial>
      <origin rpy="0 0 0" xyz="0 0 0"/>
      <mass value="3.11E-08"/>
      <inertia ixx="-5.89E-12" ixy="4.49E-13" ixz="-7.91E-13" iyy="-6.27E-12" iyz="-2.43E-12" izz="1.00E-12"/>
    </inertial>
    <visual>
      <origin rpy="0 0 0" xyz="0 0 0"/>
      <geometry>
        <mesh filename="ca95ce22929fd53a570c6c691c987a8_convex_piece_42.obj" scale="1.0000E+00"/>
      </geometry>
      <material name="">
        <color rgba="7.50E-01 7.50E-01 7.50E-01 1"/>
      </material>
    </visual>
    <collision>
      <origin rpy="0 0 0" xyz="0 0 0"/>
      <geometry>
        <mesh filename="ca95ce22929fd53a570c6c691c987a8_convex_piece_42.obj" scale="1.0000E+00"/>
      </geometry>
    </collision>
  </link>
  <joint name="link_ca95ce22929fd53a570c6c691c987a8_convex_piece_42_joint" type="fixed">
    <origin rpy="0 0 0" xyz="0 0 0"/>
    <parent link="link_ca95ce22929fd53a570c6c691c987a8_convex_piece_41"/>
    <child link="link_ca95ce22929fd53a570c6c691c987a8_convex_piece_42"/>
  </joint>
  <link name="link_ca95ce22929fd53a570c6c691c987a8_convex_piece_43">
    <inertial>
      <origin rpy="0 0 0" xyz="0 0 0"/>
      <mass value="5.95E-08"/>
      <inertia ixx="-1.25E-11" ixy="-1.17E-12" ixz="2.72E-12" iyy="-1.30E-11" iyz="-4.75E-12" izz="2.61E-12"/>
    </inertial>
    <visual>
      <origin rpy="0 0 0" xyz="0 0 0"/>
      <geometry>
        <mesh filename="ca95ce22929fd53a570c6c691c987a8_convex_piece_43.obj" scale="1.0000E+00"/>
      </geometry>
      <material name="">
        <color rgba="7.50E-01 7.50E-01 7.50E-01 1"/>
      </material>
    </visual>
    <collision>
      <origin rpy="0 0 0" xyz="0 0 0"/>
      <geometry>
        <mesh filename="ca95ce22929fd53a570c6c691c987a8_convex_piece_43.obj" scale="1.0000E+00"/>
      </geometry>
    </collision>
  </link>
  <joint name="link_ca95ce22929fd53a570c6c691c987a8_convex_piece_43_joint" type="fixed">
    <origin rpy="0 0 0" xyz="0 0 0"/>
    <parent link="link_ca95ce22929fd53a570c6c691c987a8_convex_piece_42"/>
    <child link="link_ca95ce22929fd53a570c6c691c987a8_convex_piece_43"/>
  </joint>
  <link name="link_ca95ce22929fd53a570c6c691c987a8_convex_piece_44">
    <inertial>
      <origin rpy="0 0 0" xyz="0 0 0"/>
      <mass value="7.15E-08"/>
      <inertia ixx="-7.82E-12" ixy="-2.15E-12" ixz="3.66E-12" iyy="-1.26E-11" iyz="-9.50E-12" izz="7.17E-12"/>
    </inertial>
    <visual>
      <origin rpy="0 0 0" xyz="0 0 0"/>
      <geometry>
        <mesh filename="ca95ce22929fd53a570c6c691c987a8_convex_piece_44.obj" scale="1.0000E+00"/>
      </geometry>
      <material name="">
        <color rgba="7.50E-01 7.50E-01 7.50E-01 1"/>
      </material>
    </visual>
    <collision>
      <origin rpy="0 0 0" xyz="0 0 0"/>
      <geometry>
        <mesh filename="ca95ce22929fd53a570c6c691c987a8_convex_piece_44.obj" scale="1.0000E+00"/>
      </geometry>
    </collision>
  </link>
  <joint name="link_ca95ce22929fd53a570c6c691c987a8_convex_piece_44_joint" type="fixed">
    <origin rpy="0 0 0" xyz="0 0 0"/>
    <parent link="link_ca95ce22929fd53a570c6c691c987a8_convex_piece_43"/>
    <child link="link_ca95ce22929fd53a570c6c691c987a8_convex_piece_44"/>
  </joint>
  <link name="link_ca95ce22929fd53a570c6c691c987a8_convex_piece_45">
    <inertial>
      <origin rpy="0 0 0" xyz="0 0 0"/>
      <mass value="4.25E-08"/>
      <inertia ixx="5.41E-12" ixy="1.07E-13" ixz="-2.70E-12" iyy="6.01E-12" iyz="-1.21E-12" izz="5.93E-13"/>
    </inertial>
    <visual>
      <origin rpy="0 0 0" xyz="0 0 0"/>
      <geometry>
        <mesh filename="ca95ce22929fd53a570c6c691c987a8_convex_piece_45.obj" scale="1.0000E+00"/>
      </geometry>
      <material name="">
        <color rgba="7.50E-01 7.50E-01 7.50E-01 1"/>
      </material>
    </visual>
    <collision>
      <origin rpy="0 0 0" xyz="0 0 0"/>
      <geometry>
        <mesh filename="ca95ce22929fd53a570c6c691c987a8_convex_piece_45.obj" scale="1.0000E+00"/>
      </geometry>
    </collision>
  </link>
  <joint name="link_ca95ce22929fd53a570c6c691c987a8_convex_piece_45_joint" type="fixed">
    <origin rpy="0 0 0" xyz="0 0 0"/>
    <parent link="link_ca95ce22929fd53a570c6c691c987a8_convex_piece_44"/>
    <child link="link_ca95ce22929fd53a570c6c691c987a8_convex_piece_45"/>
  </joint>
  <link name="link_ca95ce22929fd53a570c6c691c987a8_convex_piece_46">
    <inertial>
      <origin rpy="0 0 0" xyz="0 0 0"/>
      <mass value="4.66E-08"/>
      <inertia ixx="1.19E-11" ixy="1.20E-12" ixz="-9.22E-13" iyy="-2.77E-12" iyz="-1.55E-11" izz="1.51E-11"/>
    </inertial>
    <visual>
      <origin rpy="0 0 0" xyz="0 0 0"/>
      <geometry>
        <mesh filename="ca95ce22929fd53a570c6c691c987a8_convex_piece_46.obj" scale="1.0000E+00"/>
      </geometry>
      <material name="">
        <color rgba="7.50E-01 7.50E-01 7.50E-01 1"/>
      </material>
    </visual>
    <collision>
      <origin rpy="0 0 0" xyz="0 0 0"/>
      <geometry>
        <mesh filename="ca95ce22929fd53a570c6c691c987a8_convex_piece_46.obj" scale="1.0000E+00"/>
      </geometry>
    </collision>
  </link>
  <joint name="link_ca95ce22929fd53a570c6c691c987a8_convex_piece_46_joint" type="fixed">
    <origin rpy="0 0 0" xyz="0 0 0"/>
    <parent link="link_ca95ce22929fd53a570c6c691c987a8_convex_piece_45"/>
    <child link="link_ca95ce22929fd53a570c6c691c987a8_convex_piece_46"/>
  </joint>
  <link name="link_ca95ce22929fd53a570c6c691c987a8_convex_piece_47">
    <inertial>
      <origin rpy="0 0 0" xyz="0 0 0"/>
      <mass value="6.60E-09"/>
      <inertia ixx="3.97E-13" ixy="3.16E-13" ixz="-2.79E-13" iyy="-9.13E-13" iyz="-1.55E-12" izz="1.48E-12"/>
    </inertial>
    <visual>
      <origin rpy="0 0 0" xyz="0 0 0"/>
      <geometry>
        <mesh filename="ca95ce22929fd53a570c6c691c987a8_convex_piece_47.obj" scale="1.0000E+00"/>
      </geometry>
      <material name="">
        <color rgba="7.50E-01 7.50E-01 7.50E-01 1"/>
      </material>
    </visual>
    <collision>
      <origin rpy="0 0 0" xyz="0 0 0"/>
      <geometry>
        <mesh filename="ca95ce22929fd53a570c6c691c987a8_convex_piece_47.obj" scale="1.0000E+00"/>
      </geometry>
    </collision>
  </link>
  <joint name="link_ca95ce22929fd53a570c6c691c987a8_convex_piece_47_joint" type="fixed">
    <origin rpy="0 0 0" xyz="0 0 0"/>
    <parent link="link_ca95ce22929fd53a570c6c691c987a8_convex_piece_46"/>
    <child link="link_ca95ce22929fd53a570c6c691c987a8_convex_piece_47"/>
  </joint>
  <link name="link_ca95ce22929fd53a570c6c691c987a8_convex_piece_48">
    <inertial>
      <origin rpy="0 0 0" xyz="0 0 0"/>
      <mass value="2.44E-08"/>
      <inertia ixx="-7.25E-13" ixy="9.28E-13" ixz="-1.55E-12" iyy="-2.23E-12" iyz="-3.93E-12" izz="2.54E-12"/>
    </inertial>
    <visual>
      <origin rpy="0 0 0" xyz="0 0 0"/>
      <geometry>
        <mesh filename="ca95ce22929fd53a570c6c691c987a8_convex_piece_48.obj" scale="1.0000E+00"/>
      </geometry>
      <material name="">
        <color rgba="7.50E-01 7.50E-01 7.50E-01 1"/>
      </material>
    </visual>
    <collision>
      <origin rpy="0 0 0" xyz="0 0 0"/>
      <geometry>
        <mesh filename="ca95ce22929fd53a570c6c691c987a8_convex_piece_48.obj" scale="1.0000E+00"/>
      </geometry>
    </collision>
  </link>
  <joint name="link_ca95ce22929fd53a570c6c691c987a8_convex_piece_48_joint" type="fixed">
    <origin rpy="0 0 0" xyz="0 0 0"/>
    <parent link="link_ca95ce22929fd53a570c6c691c987a8_convex_piece_47"/>
    <child link="link_ca95ce22929fd53a570c6c691c987a8_convex_piece_48"/>
  </joint>
  <link name="link_ca95ce22929fd53a570c6c691c987a8_convex_piece_49">
    <inertial>
      <origin rpy="0 0 0" xyz="0 0 0"/>
      <mass value="2.89E-08"/>
      <inertia ixx="8.99E-12" ixy="6.84E-13" ixz="-2.75E-12" iyy="8.60E-12" iyz="-4.00E-12" izz="1.60E-12"/>
    </inertial>
    <visual>
      <origin rpy="0 0 0" xyz="0 0 0"/>
      <geometry>
        <mesh filename="ca95ce22929fd53a570c6c691c987a8_convex_piece_49.obj" scale="1.0000E+00"/>
      </geometry>
      <material name="">
        <color rgba="7.50E-01 7.50E-01 7.50E-01 1"/>
      </material>
    </visual>
    <collision>
      <origin rpy="0 0 0" xyz="0 0 0"/>
      <geometry>
        <mesh filename="ca95ce22929fd53a570c6c691c987a8_convex_piece_49.obj" scale="1.0000E+00"/>
      </geometry>
    </collision>
  </link>
  <joint name="link_ca95ce22929fd53a570c6c691c987a8_convex_piece_49_joint" type="fixed">
    <origin rpy="0 0 0" xyz="0 0 0"/>
    <parent link="link_ca95ce22929fd53a570c6c691c987a8_convex_piece_48"/>
    <child link="link_ca95ce22929fd53a570c6c691c987a8_convex_piece_49"/>
  </joint>
  <link name="link_ca95ce22929fd53a570c6c691c987a8_convex_piece_50">
    <inertial>
      <origin rpy="0 0 0" xyz="0 0 0"/>
      <mass value="5.63E-09"/>
      <inertia ixx="2.40E-12" ixy="-1.35E-14" ixz="4.53E-14" iyy="5.03E-13" iyz="-2.36E-12" izz="1.95E-12"/>
    </inertial>
    <visual>
      <origin rpy="0 0 0" xyz="0 0 0"/>
      <geometry>
        <mesh filename="ca95ce22929fd53a570c6c691c987a8_convex_piece_50.obj" scale="1.0000E+00"/>
      </geometry>
      <material name="">
        <color rgba="7.50E-01 7.50E-01 7.50E-01 1"/>
      </material>
    </visual>
    <collision>
      <origin rpy="0 0 0" xyz="0 0 0"/>
      <geometry>
        <mesh filename="ca95ce22929fd53a570c6c691c987a8_convex_piece_50.obj" scale="1.0000E+00"/>
      </geometry>
    </collision>
  </link>
  <joint name="link_ca95ce22929fd53a570c6c691c987a8_convex_piece_50_joint" type="fixed">
    <origin rpy="0 0 0" xyz="0 0 0"/>
    <parent link="link_ca95ce22929fd53a570c6c691c987a8_convex_piece_49"/>
    <child link="link_ca95ce22929fd53a570c6c691c987a8_convex_piece_50"/>
  </joint>
  <link name="link_ca95ce22929fd53a570c6c691c987a8_convex_piece_51">
    <inertial>
      <origin rpy="0 0 0" xyz="0 0 0"/>
      <mass value="3.95E-08"/>
      <inertia ixx="1.69E-11" ixy="1.93E-12" ixz="-2.49E-12" iyy="6.22E-12" iyz="-1.60E-11" izz="1.17E-11"/>
    </inertial>
    <visual>
      <origin rpy="0 0 0" xyz="0 0 0"/>
      <geometry>
        <mesh filename="ca95ce22929fd53a570c6c691c987a8_convex_piece_51.obj" scale="1.0000E+00"/>
      </geometry>
      <material name="">
        <color rgba="7.50E-01 7.50E-01 7.50E-01 1"/>
      </material>
    </visual>
    <collision>
      <origin rpy="0 0 0" xyz="0 0 0"/>
      <geometry>
        <mesh filename="ca95ce22929fd53a570c6c691c987a8_convex_piece_51.obj" scale="1.0000E+00"/>
      </geometry>
    </collision>
  </link>
  <joint name="link_ca95ce22929fd53a570c6c691c987a8_convex_piece_51_joint" type="fixed">
    <origin rpy="0 0 0" xyz="0 0 0"/>
    <parent link="link_ca95ce22929fd53a570c6c691c987a8_convex_piece_50"/>
    <child link="link_ca95ce22929fd53a570c6c691c987a8_convex_piece_51"/>
  </joint>
  <link name="link_ca95ce22929fd53a570c6c691c987a8_convex_piece_52">
    <inertial>
      <origin rpy="0 0 0" xyz="0 0 0"/>
      <mass value="4.74E-08"/>
      <inertia ixx="-2.38E-12" ixy="-7.54E-13" ixz="4.29E-12" iyy="-1.54E-12" iyz="-4.04E-12" izz="1.72E-12"/>
    </inertial>
    <visual>
      <origin rpy="0 0 0" xyz="0 0 0"/>
      <geometry>
        <mesh filename="ca95ce22929fd53a570c6c691c987a8_convex_piece_52.obj" scale="1.0000E+00"/>
      </geometry>
      <material name="">
        <color rgba="7.50E-01 7.50E-01 7.50E-01 1"/>
      </material>
    </visual>
    <collision>
      <origin rpy="0 0 0" xyz="0 0 0"/>
      <geometry>
        <mesh filename="ca95ce22929fd53a570c6c691c987a8_convex_piece_52.obj" scale="1.0000E+00"/>
      </geometry>
    </collision>
  </link>
  <joint name="link_ca95ce22929fd53a570c6c691c987a8_convex_piece_52_joint" type="fixed">
    <origin rpy="0 0 0" xyz="0 0 0"/>
    <parent link="link_ca95ce22929fd53a570c6c691c987a8_convex_piece_51"/>
    <child link="link_ca95ce22929fd53a570c6c691c987a8_convex_piece_52"/>
  </joint>
  <link name="link_ca95ce22929fd53a570c6c691c987a8_convex_piece_53">
    <inertial>
      <origin rpy="0 0 0" xyz="0 0 0"/>
      <mass value="4.33E-08"/>
      <inertia ixx="-2.47E-12" ixy="-1.19E-14" ixz="-6.50E-13" iyy="-2.26E-12" iyz="-6.12E-13" izz="1.06E-13"/>
    </inertial>
    <visual>
      <origin rpy="0 0 0" xyz="0 0 0"/>
      <geometry>
        <mesh filename="ca95ce22929fd53a570c6c691c987a8_convex_piece_53.obj" scale="1.0000E+00"/>
      </geometry>
      <material name="">
        <color rgba="7.50E-01 7.50E-01 7.50E-01 1"/>
      </material>
    </visual>
    <collision>
      <origin rpy="0 0 0" xyz="0 0 0"/>
      <geometry>
        <mesh filename="ca95ce22929fd53a570c6c691c987a8_convex_piece_53.obj" scale="1.0000E+00"/>
      </geometry>
    </collision>
  </link>
  <joint name="link_ca95ce22929fd53a570c6c691c987a8_convex_piece_53_joint" type="fixed">
    <origin rpy="0 0 0" xyz="0 0 0"/>
    <parent link="link_ca95ce22929fd53a570c6c691c987a8_convex_piece_52"/>
    <child link="link_ca95ce22929fd53a570c6c691c987a8_convex_piece_53"/>
  </joint>
  <link name="link_ca95ce22929fd53a570c6c691c987a8_convex_piece_54">
    <inertial>
      <origin rpy="0 0 0" xyz="0 0 0"/>
      <mass value="9.56E-08"/>
      <inertia ixx="-5.69E-12" ixy="2.66E-12" ixz="-1.10E-12" iyy="-2.55E-11" iyz="-1.47E-11" izz="2.10E-11"/>
    </inertial>
    <visual>
      <origin rpy="0 0 0" xyz="0 0 0"/>
      <geometry>
        <mesh filename="ca95ce22929fd53a570c6c691c987a8_convex_piece_54.obj" scale="1.0000E+00"/>
      </geometry>
      <material name="">
        <color rgba="7.50E-01 7.50E-01 7.50E-01 1"/>
      </material>
    </visual>
    <collision>
      <origin rpy="0 0 0" xyz="0 0 0"/>
      <geometry>
        <mesh filename="ca95ce22929fd53a570c6c691c987a8_convex_piece_54.obj" scale="1.0000E+00"/>
      </geometry>
    </collision>
  </link>
  <joint name="link_ca95ce22929fd53a570c6c691c987a8_convex_piece_54_joint" type="fixed">
    <origin rpy="0 0 0" xyz="0 0 0"/>
    <parent link="link_ca95ce22929fd53a570c6c691c987a8_convex_piece_53"/>
    <child link="link_ca95ce22929fd53a570c6c691c987a8_convex_piece_54"/>
  </joint>
  <link name="link_ca95ce22929fd53a570c6c691c987a8_convex_piece_55">
    <inertial>
      <origin rpy="0 0 0" xyz="0 0 0"/>
      <mass value="4.67E-08"/>
      <inertia ixx="2.90E-12" ixy="2.44E-13" ixz="-1.80E-14" iyy="-8.00E-12" iyz="-1.09E-11" izz="1.15E-11"/>
    </inertial>
    <visual>
      <origin rpy="0 0 0" xyz="0 0 0"/>
      <geometry>
        <mesh filename="ca95ce22929fd53a570c6c691c987a8_convex_piece_55.obj" scale="1.0000E+00"/>
      </geometry>
      <material name="">
        <color rgba="7.50E-01 7.50E-01 7.50E-01 1"/>
      </material>
    </visual>
    <collision>
      <origin rpy="0 0 0" xyz="0 0 0"/>
      <geometry>
        <mesh filename="ca95ce22929fd53a570c6c691c987a8_convex_piece_55.obj" scale="1.0000E+00"/>
      </geometry>
    </collision>
  </link>
  <joint name="link_ca95ce22929fd53a570c6c691c987a8_convex_piece_55_joint" type="fixed">
    <origin rpy="0 0 0" xyz="0 0 0"/>
    <parent link="link_ca95ce22929fd53a570c6c691c987a8_convex_piece_54"/>
    <child link="link_ca95ce22929fd53a570c6c691c987a8_convex_piece_55"/>
  </joint>
  <link name="link_ca95ce22929fd53a570c6c691c987a8_convex_piece_56">
    <inertial>
      <origin rpy="0 0 0" xyz="0 0 0"/>
      <mass value="1.35E-08"/>
      <inertia ixx="-3.25E-12" ixy="-4.52E-13" ixz="3.55E-13" iyy="-4.01E-12" iyz="-1.03E-12" izz="1.25E-12"/>
    </inertial>
    <visual>
      <origin rpy="0 0 0" xyz="0 0 0"/>
      <geometry>
        <mesh filename="ca95ce22929fd53a570c6c691c987a8_convex_piece_56.obj" scale="1.0000E+00"/>
      </geometry>
      <material name="">
        <color rgba="7.50E-01 7.50E-01 7.50E-01 1"/>
      </material>
    </visual>
    <collision>
      <origin rpy="0 0 0" xyz="0 0 0"/>
      <geometry>
        <mesh filename="ca95ce22929fd53a570c6c691c987a8_convex_piece_56.obj" scale="1.0000E+00"/>
      </geometry>
    </collision>
  </link>
  <joint name="link_ca95ce22929fd53a570c6c691c987a8_convex_piece_56_joint" type="fixed">
    <origin rpy="0 0 0" xyz="0 0 0"/>
    <parent link="link_ca95ce22929fd53a570c6c691c987a8_convex_piece_55"/>
    <child link="link_ca95ce22929fd53a570c6c691c987a8_convex_piece_56"/>
  </joint>
  <link name="link_ca95ce22929fd53a570c6c691c987a8_convex_piece_57">
    <inertial>
      <origin rpy="0 0 0" xyz="0 0 0"/>
      <mass value="1.84E-08"/>
      <inertia ixx="-2.05E-12" ixy="4.78E-13" ixz="-3.84E-14" iyy="-5.90E-12" iyz="-1.67E-12" izz="4.03E-12"/>
    </inertial>
    <visual>
      <origin rpy="0 0 0" xyz="0 0 0"/>
      <geometry>
        <mesh filename="ca95ce22929fd53a570c6c691c987a8_convex_piece_57.obj" scale="1.0000E+00"/>
      </geometry>
      <material name="">
        <color rgba="7.50E-01 7.50E-01 7.50E-01 1"/>
      </material>
    </visual>
    <collision>
      <origin rpy="0 0 0" xyz="0 0 0"/>
      <geometry>
        <mesh filename="ca95ce22929fd53a570c6c691c987a8_convex_piece_57.obj" scale="1.0000E+00"/>
      </geometry>
    </collision>
  </link>
  <joint name="link_ca95ce22929fd53a570c6c691c987a8_convex_piece_57_joint" type="fixed">
    <origin rpy="0 0 0" xyz="0 0 0"/>
    <parent link="link_ca95ce22929fd53a570c6c691c987a8_convex_piece_56"/>
    <child link="link_ca95ce22929fd53a570c6c691c987a8_convex_piece_57"/>
  </joint>
  <link name="link_ca95ce22929fd53a570c6c691c987a8_convex_piece_58">
    <inertial>
      <origin rpy="0 0 0" xyz="0 0 0"/>
      <mass value="2.44E-08"/>
      <inertia ixx="-6.91E-13" ixy="-1.23E-12" ixz="9.84E-13" iyy="-5.58E-12" iyz="-4.38E-12" izz="5.61E-12"/>
    </inertial>
    <visual>
      <origin rpy="0 0 0" xyz="0 0 0"/>
      <geometry>
        <mesh filename="ca95ce22929fd53a570c6c691c987a8_convex_piece_58.obj" scale="1.0000E+00"/>
      </geometry>
      <material name="">
        <color rgba="7.50E-01 7.50E-01 7.50E-01 1"/>
      </material>
    </visual>
    <collision>
      <origin rpy="0 0 0" xyz="0 0 0"/>
      <geometry>
        <mesh filename="ca95ce22929fd53a570c6c691c987a8_convex_piece_58.obj" scale="1.0000E+00"/>
      </geometry>
    </collision>
  </link>
  <joint name="link_ca95ce22929fd53a570c6c691c987a8_convex_piece_58_joint" type="fixed">
    <origin rpy="0 0 0" xyz="0 0 0"/>
    <parent link="link_ca95ce22929fd53a570c6c691c987a8_convex_piece_57"/>
    <child link="link_ca95ce22929fd53a570c6c691c987a8_convex_piece_58"/>
  </joint>
  <link name="link_ca95ce22929fd53a570c6c691c987a8_convex_piece_59">
    <inertial>
      <origin rpy="0 0 0" xyz="0 0 0"/>
      <mass value="4.14E-08"/>
      <inertia ixx="-1.05E-11" ixy="1.66E-13" ixz="-5.22E-13" iyy="-1.02E-11" iyz="-1.82E-12" izz="2.33E-13"/>
    </inertial>
    <visual>
      <origin rpy="0 0 0" xyz="0 0 0"/>
      <geometry>
        <mesh filename="ca95ce22929fd53a570c6c691c987a8_convex_piece_59.obj" scale="1.0000E+00"/>
      </geometry>
      <material name="">
        <color rgba="7.50E-01 7.50E-01 7.50E-01 1"/>
      </material>
    </visual>
    <collision>
      <origin rpy="0 0 0" xyz="0 0 0"/>
      <geometry>
        <mesh filename="ca95ce22929fd53a570c6c691c987a8_convex_piece_59.obj" scale="1.0000E+00"/>
      </geometry>
    </collision>
  </link>
  <joint name="link_ca95ce22929fd53a570c6c691c987a8_convex_piece_59_joint" type="fixed">
    <origin rpy="0 0 0" xyz="0 0 0"/>
    <parent link="link_ca95ce22929fd53a570c6c691c987a8_convex_piece_58"/>
    <child link="link_ca95ce22929fd53a570c6c691c987a8_convex_piece_59"/>
  </joint>
  <link name="link_ca95ce22929fd53a570c6c691c987a8_convex_piece_60">
    <inertial>
      <origin rpy="0 0 0" xyz="0 0 0"/>
      <mass value="2.92E-08"/>
      <inertia ixx="-8.96E-12" ixy="1.50E-13" ixz="1.15E-14" iyy="-9.02E-12" iyz="-1.43E-12" izz="3.47E-13"/>
    </inertial>
    <visual>
      <origin rpy="0 0 0" xyz="0 0 0"/>
      <geometry>
        <mesh filename="ca95ce22929fd53a570c6c691c987a8_convex_piece_60.obj" scale="1.0000E+00"/>
      </geometry>
      <material name="">
        <color rgba="7.50E-01 7.50E-01 7.50E-01 1"/>
      </material>
    </visual>
    <collision>
      <origin rpy="0 0 0" xyz="0 0 0"/>
      <geometry>
        <mesh filename="ca95ce22929fd53a570c6c691c987a8_convex_piece_60.obj" scale="1.0000E+00"/>
      </geometry>
    </collision>
  </link>
  <joint name="link_ca95ce22929fd53a570c6c691c987a8_convex_piece_60_joint" type="fixed">
    <origin rpy="0 0 0" xyz="0 0 0"/>
    <parent link="link_ca95ce22929fd53a570c6c691c987a8_convex_piece_59"/>
    <child link="link_ca95ce22929fd53a570c6c691c987a8_convex_piece_60"/>
  </joint>
  <link name="link_ca95ce22929fd53a570c6c691c987a8_convex_piece_61">
    <inertial>
      <origin rpy="0 0 0" xyz="0 0 0"/>
      <mass value="1.26E-08"/>
      <inertia ixx="-5.10E-14" ixy="4.09E-13" ixz="-3.11E-13" iyy="-2.46E-12" iyz="-2.51E-12" izz="2.64E-12"/>
    </inertial>
    <visual>
      <origin rpy="0 0 0" xyz="0 0 0"/>
      <geometry>
        <mesh filename="ca95ce22929fd53a570c6c691c987a8_convex_piece_61.obj" scale="1.0000E+00"/>
      </geometry>
      <material name="">
        <color rgba="7.50E-01 7.50E-01 7.50E-01 1"/>
      </material>
    </visual>
    <collision>
      <origin rpy="0 0 0" xyz="0 0 0"/>
      <geometry>
        <mesh filename="ca95ce22929fd53a570c6c691c987a8_convex_piece_61.obj" scale="1.0000E+00"/>
      </geometry>
    </collision>
  </link>
  <joint name="link_ca95ce22929fd53a570c6c691c987a8_convex_piece_61_joint" type="fixed">
    <origin rpy="0 0 0" xyz="0 0 0"/>
    <parent link="link_ca95ce22929fd53a570c6c691c987a8_convex_piece_60"/>
    <child link="link_ca95ce22929fd53a570c6c691c987a8_convex_piece_61"/>
  </joint>
  <link name="link_ca95ce22929fd53a570c6c691c987a8_convex_piece_62">
    <inertial>
      <origin rpy="0 0 0" xyz="0 0 0"/>
      <mass value="1.93E-08"/>
      <inertia ixx="-2.33E-12" ixy="-4.80E-13" ixz="1.10E-12" iyy="-2.84E-12" iyz="-2.12E-12" izz="1.19E-12"/>
    </inertial>
    <visual>
      <origin rpy="0 0 0" xyz="0 0 0"/>
      <geometry>
        <mesh filename="ca95ce22929fd53a570c6c691c987a8_convex_piece_62.obj" scale="1.0000E+00"/>
      </geometry>
      <material name="">
        <color rgba="7.50E-01 7.50E-01 7.50E-01 1"/>
      </material>
    </visual>
    <collision>
      <origin rpy="0 0 0" xyz="0 0 0"/>
      <geometry>
        <mesh filename="ca95ce22929fd53a570c6c691c987a8_convex_piece_62.obj" scale="1.0000E+00"/>
      </geometry>
    </collision>
  </link>
  <joint name="link_ca95ce22929fd53a570c6c691c987a8_convex_piece_62_joint" type="fixed">
    <origin rpy="0 0 0" xyz="0 0 0"/>
    <parent link="link_ca95ce22929fd53a570c6c691c987a8_convex_piece_61"/>
    <child link="link_ca95ce22929fd53a570c6c691c987a8_convex_piece_62"/>
  </joint>
  <link name="link_ca95ce22929fd53a570c6c691c987a8_convex_piece_63">
    <inertial>
      <origin rpy="0 0 0" xyz="0 0 0"/>
      <mass value="2.48E-08"/>
      <inertia ixx="-3.53E-12" ixy="4.79E-13" ixz="-6.85E-13" iyy="-4.52E-12" iyz="-2.62E-12" izz="1.47E-12"/>
    </inertial>
    <visual>
      <origin rpy="0 0 0" xyz="0 0 0"/>
      <geometry>
        <mesh filename="ca95ce22929fd53a570c6c691c987a8_convex_piece_63.obj" scale="1.0000E+00"/>
      </geometry>
      <material name="">
        <color rgba="7.50E-01 7.50E-01 7.50E-01 1"/>
      </material>
    </visual>
    <collision>
      <origin rpy="0 0 0" xyz="0 0 0"/>
      <geometry>
        <mesh filename="ca95ce22929fd53a570c6c691c987a8_convex_piece_63.obj" scale="1.0000E+00"/>
      </geometry>
    </collision>
  </link>
  <joint name="link_ca95ce22929fd53a570c6c691c987a8_convex_piece_63_joint" type="fixed">
    <origin rpy="0 0 0" xyz="0 0 0"/>
    <parent link="link_ca95ce22929fd53a570c6c691c987a8_convex_piece_62"/>
    <child link="link_ca95ce22929fd53a570c6c691c987a8_convex_piece_63"/>
  </joint>
  <link name="link_ca95ce22929fd53a570c6c691c987a8_convex_piece_64">
    <inertial>
      <origin rpy="0 0 0" xyz="0 0 0"/>
      <mass value="6.56E-08"/>
      <inertia ixx="-6.99E-12" ixy="-2.63E-12" ixz="1.88E-12" iyy="-1.80E-11" iyz="-8.59E-12" izz="1.27E-11"/>
    </inertial>
    <visual>
      <origin rpy="0 0 0" xyz="0 0 0"/>
      <geometry>
        <mesh filename="ca95ce22929fd53a570c6c691c987a8_convex_piece_64.obj" scale="1.0000E+00"/>
      </geometry>
      <material name="">
        <color rgba="7.50E-01 7.50E-01 7.50E-01 1"/>
      </material>
    </visual>
    <collision>
      <origin rpy="0 0 0" xyz="0 0 0"/>
      <geometry>
        <mesh filename="ca95ce22929fd53a570c6c691c987a8_convex_piece_64.obj" scale="1.0000E+00"/>
      </geometry>
    </collision>
  </link>
  <joint name="link_ca95ce22929fd53a570c6c691c987a8_convex_piece_64_joint" type="fixed">
    <origin rpy="0 0 0" xyz="0 0 0"/>
    <parent link="link_ca95ce22929fd53a570c6c691c987a8_convex_piece_63"/>
    <child link="link_ca95ce22929fd53a570c6c691c987a8_convex_piece_64"/>
  </joint>
  <link name="link_ca95ce22929fd53a570c6c691c987a8_convex_piece_65">
    <inertial>
      <origin rpy="0 0 0" xyz="0 0 0"/>
      <mass value="1.53E-08"/>
      <inertia ixx="-4.97E-12" ixy="7.72E-14" ixz="-3.03E-14" iyy="-4.92E-12" iyz="-6.50E-13" izz="9.77E-14"/>
    </inertial>
    <visual>
      <origin rpy="0 0 0" xyz="0 0 0"/>
      <geometry>
        <mesh filename="ca95ce22929fd53a570c6c691c987a8_convex_piece_65.obj" scale="1.0000E+00"/>
      </geometry>
      <material name="">
        <color rgba="7.50E-01 7.50E-01 7.50E-01 1"/>
      </material>
    </visual>
    <collision>
      <origin rpy="0 0 0" xyz="0 0 0"/>
      <geometry>
        <mesh filename="ca95ce22929fd53a570c6c691c987a8_convex_piece_65.obj" scale="1.0000E+00"/>
      </geometry>
    </collision>
  </link>
  <joint name="link_ca95ce22929fd53a570c6c691c987a8_convex_piece_65_joint" type="fixed">
    <origin rpy="0 0 0" xyz="0 0 0"/>
    <parent link="link_ca95ce22929fd53a570c6c691c987a8_convex_piece_64"/>
    <child link="link_ca95ce22929fd53a570c6c691c987a8_convex_piece_65"/>
  </joint>
  <link name="link_ca95ce22929fd53a570c6c691c987a8_convex_piece_66">
    <inertial>
      <origin rpy="0 0 0" xyz="0 0 0"/>
      <mass value="4.42E-08"/>
      <inertia ixx="1.80E-11" ixy="2.28E-12" ixz="-4.67E-12" iyy="1.16E-11" iyz="-1.48E-11" izz="8.56E-12"/>
    </inertial>
    <visual>
      <origin rpy="0 0 0" xyz="0 0 0"/>
      <geometry>
        <mesh filename="ca95ce22929fd53a570c6c691c987a8_convex_piece_66.obj" scale="1.0000E+00"/>
      </geometry>
      <material name="">
        <color rgba="7.50E-01 7.50E-01 7.50E-01 1"/>
      </material>
    </visual>
    <collision>
      <origin rpy="0 0 0" xyz="0 0 0"/>
      <geometry>
        <mesh filename="ca95ce22929fd53a570c6c691c987a8_convex_piece_66.obj" scale="1.0000E+00"/>
      </geometry>
    </collision>
  </link>
  <joint name="link_ca95ce22929fd53a570c6c691c987a8_convex_piece_66_joint" type="fixed">
    <origin rpy="0 0 0" xyz="0 0 0"/>
    <parent link="link_ca95ce22929fd53a570c6c691c987a8_convex_piece_65"/>
    <child link="link_ca95ce22929fd53a570c6c691c987a8_convex_piece_66"/>
  </joint>
  <link name="link_ca95ce22929fd53a570c6c691c987a8_convex_piece_67">
    <inertial>
      <origin rpy="0 0 0" xyz="0 0 0"/>
      <mass value="2.66E-08"/>
      <inertia ixx="6.47E-12" ixy="7.29E-13" ixz="-2.56E-12" iyy="5.91E-12" iyz="-4.06E-12" izz="1.74E-12"/>
    </inertial>
    <visual>
      <origin rpy="0 0 0" xyz="0 0 0"/>
      <geometry>
        <mesh filename="ca95ce22929fd53a570c6c691c987a8_convex_piece_67.obj" scale="1.0000E+00"/>
      </geometry>
      <material name="">
        <color rgba="7.50E-01 7.50E-01 7.50E-01 1"/>
      </material>
    </visual>
    <collision>
      <origin rpy="0 0 0" xyz="0 0 0"/>
      <geometry>
        <mesh filename="ca95ce22929fd53a570c6c691c987a8_convex_piece_67.obj" scale="1.0000E+00"/>
      </geometry>
    </collision>
  </link>
  <joint name="link_ca95ce22929fd53a570c6c691c987a8_convex_piece_67_joint" type="fixed">
    <origin rpy="0 0 0" xyz="0 0 0"/>
    <parent link="link_ca95ce22929fd53a570c6c691c987a8_convex_piece_66"/>
    <child link="link_ca95ce22929fd53a570c6c691c987a8_convex_piece_67"/>
  </joint>
  <link name="link_ca95ce22929fd53a570c6c691c987a8_convex_piece_68">
    <inertial>
      <origin rpy="0 0 0" xyz="0 0 0"/>
      <mass value="2.66E-08"/>
      <inertia ixx="3.41E-12" ixy="1.70E-12" ixz="-2.21E-12" iyy="-2.49E-13" iyz="-6.87E-12" izz="5.03E-12"/>
    </inertial>
    <visual>
      <origin rpy="0 0 0" xyz="0 0 0"/>
      <geometry>
        <mesh filename="ca95ce22929fd53a570c6c691c987a8_convex_piece_68.obj" scale="1.0000E+00"/>
      </geometry>
      <material name="">
        <color rgba="7.50E-01 7.50E-01 7.50E-01 1"/>
      </material>
    </visual>
    <collision>
      <origin rpy="0 0 0" xyz="0 0 0"/>
      <geometry>
        <mesh filename="ca95ce22929fd53a570c6c691c987a8_convex_piece_68.obj" scale="1.0000E+00"/>
      </geometry>
    </collision>
  </link>
  <joint name="link_ca95ce22929fd53a570c6c691c987a8_convex_piece_68_joint" type="fixed">
    <origin rpy="0 0 0" xyz="0 0 0"/>
    <parent link="link_ca95ce22929fd53a570c6c691c987a8_convex_piece_67"/>
    <child link="link_ca95ce22929fd53a570c6c691c987a8_convex_piece_68"/>
  </joint>
  <link name="link_ca95ce22929fd53a570c6c691c987a8_convex_piece_69">
    <inertial>
      <origin rpy="0 0 0" xyz="0 0 0"/>
      <mass value="3.10E-08"/>
      <inertia ixx="-8.94E-12" ixy="2.49E-13" ixz="-3.21E-13" iyy="-8.94E-12" iyz="-1.61E-12" izz="4.30E-13"/>
    </inertial>
    <visual>
      <origin rpy="0 0 0" xyz="0 0 0"/>
      <geometry>
        <mesh filename="ca95ce22929fd53a570c6c691c987a8_convex_piece_69.obj" scale="1.0000E+00"/>
      </geometry>
      <material name="">
        <color rgba="7.50E-01 7.50E-01 7.50E-01 1"/>
      </material>
    </visual>
    <collision>
      <origin rpy="0 0 0" xyz="0 0 0"/>
      <geometry>
        <mesh filename="ca95ce22929fd53a570c6c691c987a8_convex_piece_69.obj" scale="1.0000E+00"/>
      </geometry>
    </collision>
  </link>
  <joint name="link_ca95ce22929fd53a570c6c691c987a8_convex_piece_69_joint" type="fixed">
    <origin rpy="0 0 0" xyz="0 0 0"/>
    <parent link="link_ca95ce22929fd53a570c6c691c987a8_convex_piece_68"/>
    <child link="link_ca95ce22929fd53a570c6c691c987a8_convex_piece_69"/>
  </joint>
  <link name="link_ca95ce22929fd53a570c6c691c987a8_convex_piece_70">
    <inertial>
      <origin rpy="0 0 0" xyz="0 0 0"/>
      <mass value="2.78E-08"/>
      <inertia ixx="7.61E-12" ixy="-1.28E-12" ixz="1.44E-12" iyy="-7.04E-13" iyz="-9.56E-12" izz="8.78E-12"/>
    </inertial>
    <visual>
      <origin rpy="0 0 0" xyz="0 0 0"/>
      <geometry>
        <mesh filename="ca95ce22929fd53a570c6c691c987a8_convex_piece_70.obj" scale="1.0000E+00"/>
      </geometry>
      <material name="">
        <color rgba="7.50E-01 7.50E-01 7.50E-01 1"/>
      </material>
    </visual>
    <collision>
      <origin rpy="0 0 0" xyz="0 0 0"/>
      <geometry>
        <mesh filename="ca95ce22929fd53a570c6c691c987a8_convex_piece_70.obj" scale="1.0000E+00"/>
      </geometry>
    </collision>
  </link>
  <joint name="link_ca95ce22929fd53a570c6c691c987a8_convex_piece_70_joint" type="fixed">
    <origin rpy="0 0 0" xyz="0 0 0"/>
    <parent link="link_ca95ce22929fd53a570c6c691c987a8_convex_piece_69"/>
    <child link="link_ca95ce22929fd53a570c6c691c987a8_convex_piece_70"/>
  </joint>
  <link name="link_ca95ce22929fd53a570c6c691c987a8_convex_piece_71">
    <inertial>
      <origin rpy="0 0 0" xyz="0 0 0"/>
      <mass value="2.72E-08"/>
      <inertia ixx="3.11E-12" ixy="-1.85E-12" ixz="2.84E-12" iyy="-3.02E-14" iyz="-6.75E-12" izz="4.93E-12"/>
    </inertial>
    <visual>
      <origin rpy="0 0 0" xyz="0 0 0"/>
      <geometry>
        <mesh filename="ca95ce22929fd53a570c6c691c987a8_convex_piece_71.obj" scale="1.0000E+00"/>
      </geometry>
      <material name="">
        <color rgba="7.50E-01 7.50E-01 7.50E-01 1"/>
      </material>
    </visual>
    <collision>
      <origin rpy="0 0 0" xyz="0 0 0"/>
      <geometry>
        <mesh filename="ca95ce22929fd53a570c6c691c987a8_convex_piece_71.obj" scale="1.0000E+00"/>
      </geometry>
    </collision>
  </link>
  <joint name="link_ca95ce22929fd53a570c6c691c987a8_convex_piece_71_joint" type="fixed">
    <origin rpy="0 0 0" xyz="0 0 0"/>
    <parent link="link_ca95ce22929fd53a570c6c691c987a8_convex_piece_70"/>
    <child link="link_ca95ce22929fd53a570c6c691c987a8_convex_piece_71"/>
  </joint>
  <link name="link_ca95ce22929fd53a570c6c691c987a8_convex_piece_72">
    <inertial>
      <origin rpy="0 0 0" xyz="0 0 0"/>
      <mass value="2.16E-08"/>
      <inertia ixx="-6.36E-13" ixy="3.38E-13" ixz="-1.79E-12" iyy="-2.49E-13" iyz="-1.86E-12" izz="7.24E-13"/>
    </inertial>
    <visual>
      <origin rpy="0 0 0" xyz="0 0 0"/>
      <geometry>
        <mesh filename="ca95ce22929fd53a570c6c691c987a8_convex_piece_72.obj" scale="1.0000E+00"/>
      </geometry>
      <material name="">
        <color rgba="7.50E-01 7.50E-01 7.50E-01 1"/>
      </material>
    </visual>
    <collision>
      <origin rpy="0 0 0" xyz="0 0 0"/>
      <geometry>
        <mesh filename="ca95ce22929fd53a570c6c691c987a8_convex_piece_72.obj" scale="1.0000E+00"/>
      </geometry>
    </collision>
  </link>
  <joint name="link_ca95ce22929fd53a570c6c691c987a8_convex_piece_72_joint" type="fixed">
    <origin rpy="0 0 0" xyz="0 0 0"/>
    <parent link="link_ca95ce22929fd53a570c6c691c987a8_convex_piece_71"/>
    <child link="link_ca95ce22929fd53a570c6c691c987a8_convex_piece_72"/>
  </joint>
  <link name="link_ca95ce22929fd53a570c6c691c987a8_convex_piece_73">
    <inertial>
      <origin rpy="0 0 0" xyz="0 0 0"/>
      <mass value="5.37E-08"/>
      <inertia ixx="-1.50E-11" ixy="-5.79E-13" ixz="1.56E-12" iyy="-1.47E-11" iyz="-2.90E-12" izz="1.20E-12"/>
    </inertial>
    <visual>
      <origin rpy="0 0 0" xyz="0 0 0"/>
      <geometry>
        <mesh filename="ca95ce22929fd53a570c6c691c987a8_convex_piece_73.obj" scale="1.0000E+00"/>
      </geometry>
      <material name="">
        <color rgba="7.50E-01 7.50E-01 7.50E-01 1"/>
      </material>
    </visual>
    <collision>
      <origin rpy="0 0 0" xyz="0 0 0"/>
      <geometry>
        <mesh filename="ca95ce22929fd53a570c6c691c987a8_convex_piece_73.obj" scale="1.0000E+00"/>
      </geometry>
    </collision>
  </link>
  <joint name="link_ca95ce22929fd53a570c6c691c987a8_convex_piece_73_joint" type="fixed">
    <origin rpy="0 0 0" xyz="0 0 0"/>
    <parent link="link_ca95ce22929fd53a570c6c691c987a8_convex_piece_72"/>
    <child link="link_ca95ce22929fd53a570c6c691c987a8_convex_piece_73"/>
  </joint>
  <link name="link_ca95ce22929fd53a570c6c691c987a8_convex_piece_74">
    <inertial>
      <origin rpy="0 0 0" xyz="0 0 0"/>
      <mass value="3.04E-08"/>
      <inertia ixx="-3.63E-12" ixy="2.77E-13" ixz="2.33E-14" iyy="-9.40E-12" iyz="-3.23E-12" izz="6.06E-12"/>
    </inertial>
    <visual>
      <origin rpy="0 0 0" xyz="0 0 0"/>
      <geometry>
        <mesh filename="ca95ce22929fd53a570c6c691c987a8_convex_piece_74.obj" scale="1.0000E+00"/>
      </geometry>
      <material name="">
        <color rgba="7.50E-01 7.50E-01 7.50E-01 1"/>
      </material>
    </visual>
    <collision>
      <origin rpy="0 0 0" xyz="0 0 0"/>
      <geometry>
        <mesh filename="ca95ce22929fd53a570c6c691c987a8_convex_piece_74.obj" scale="1.0000E+00"/>
      </geometry>
    </collision>
  </link>
  <joint name="link_ca95ce22929fd53a570c6c691c987a8_convex_piece_74_joint" type="fixed">
    <origin rpy="0 0 0" xyz="0 0 0"/>
    <parent link="link_ca95ce22929fd53a570c6c691c987a8_convex_piece_73"/>
    <child link="link_ca95ce22929fd53a570c6c691c987a8_convex_piece_74"/>
  </joint>
  <link name="link_ca95ce22929fd53a570c6c691c987a8_convex_piece_75">
    <inertial>
      <origin rpy="0 0 0" xyz="0 0 0"/>
      <mass value="2.04E-08"/>
      <inertia ixx="-6.80E-13" ixy="6.88E-14" ixz="1.16E-12" iyy="-4.45E-13" iyz="-3.09E-13" izz="1.73E-13"/>
    </inertial>
    <visual>
      <origin rpy="0 0 0" xyz="0 0 0"/>
      <geometry>
        <mesh filename="ca95ce22929fd53a570c6c691c987a8_convex_piece_75.obj" scale="1.0000E+00"/>
      </geometry>
      <material name="">
        <color rgba="7.50E-01 7.50E-01 7.50E-01 1"/>
      </material>
    </visual>
    <collision>
      <origin rpy="0 0 0" xyz="0 0 0"/>
      <geometry>
        <mesh filename="ca95ce22929fd53a570c6c691c987a8_convex_piece_75.obj" scale="1.0000E+00"/>
      </geometry>
    </collision>
  </link>
  <joint name="link_ca95ce22929fd53a570c6c691c987a8_convex_piece_75_joint" type="fixed">
    <origin rpy="0 0 0" xyz="0 0 0"/>
    <parent link="link_ca95ce22929fd53a570c6c691c987a8_convex_piece_74"/>
    <child link="link_ca95ce22929fd53a570c6c691c987a8_convex_piece_75"/>
  </joint>
  <link name="link_ca95ce22929fd53a570c6c691c987a8_convex_piece_76">
    <inertial>
      <origin rpy="0 0 0" xyz="0 0 0"/>
      <mass value="2.71E-08"/>
      <inertia ixx="4.14E-12" ixy="-9.07E-13" ixz="2.72E-12" iyy="2.94E-12" iyz="-4.82E-12" izz="2.48E-12"/>
    </inertial>
    <visual>
      <origin rpy="0 0 0" xyz="0 0 0"/>
      <geometry>
        <mesh filename="ca95ce22929fd53a570c6c691c987a8_convex_piece_76.obj" scale="1.0000E+00"/>
      </geometry>
      <material name="">
        <color rgba="7.50E-01 7.50E-01 7.50E-01 1"/>
      </material>
    </visual>
    <collision>
      <origin rpy="0 0 0" xyz="0 0 0"/>
      <geometry>
        <mesh filename="ca95ce22929fd53a570c6c691c987a8_convex_piece_76.obj" scale="1.0000E+00"/>
      </geometry>
    </collision>
  </link>
  <joint name="link_ca95ce22929fd53a570c6c691c987a8_convex_piece_76_joint" type="fixed">
    <origin rpy="0 0 0" xyz="0 0 0"/>
    <parent link="link_ca95ce22929fd53a570c6c691c987a8_convex_piece_75"/>
    <child link="link_ca95ce22929fd53a570c6c691c987a8_convex_piece_76"/>
  </joint>
  <link name="link_ca95ce22929fd53a570c6c691c987a8_convex_piece_77">
    <inertial>
      <origin rpy="0 0 0" xyz="0 0 0"/>
      <mass value="4.15E-08"/>
      <inertia ixx="1.02E-11" ixy="2.16E-12" ixz="-3.36E-12" iyy="3.50E-12" iyz="-1.25E-11" izz="8.47E-12"/>
    </inertial>
    <visual>
      <origin rpy="0 0 0" xyz="0 0 0"/>
      <geometry>
        <mesh filename="ca95ce22929fd53a570c6c691c987a8_convex_piece_77.obj" scale="1.0000E+00"/>
      </geometry>
      <material name="">
        <color rgba="7.50E-01 7.50E-01 7.50E-01 1"/>
      </material>
    </visual>
    <collision>
      <origin rpy="0 0 0" xyz="0 0 0"/>
      <geometry>
        <mesh filename="ca95ce22929fd53a570c6c691c987a8_convex_piece_77.obj" scale="1.0000E+00"/>
      </geometry>
    </collision>
  </link>
  <joint name="link_ca95ce22929fd53a570c6c691c987a8_convex_piece_77_joint" type="fixed">
    <origin rpy="0 0 0" xyz="0 0 0"/>
    <parent link="link_ca95ce22929fd53a570c6c691c987a8_convex_piece_76"/>
    <child link="link_ca95ce22929fd53a570c6c691c987a8_convex_piece_77"/>
  </joint>
  <link name="link_ca95ce22929fd53a570c6c691c987a8_convex_piece_78">
    <inertial>
      <origin rpy="0 0 0" xyz="0 0 0"/>
      <mass value="1.45E-08"/>
      <inertia ixx="-4.65E-12" ixy="-1.29E-13" ixz="2.49E-13" iyy="-4.55E-12" iyz="-6.56E-13" izz="2.54E-13"/>
    </inertial>
    <visual>
      <origin rpy="0 0 0" xyz="0 0 0"/>
      <geometry>
        <mesh filename="ca95ce22929fd53a570c6c691c987a8_convex_piece_78.obj" scale="1.0000E+00"/>
      </geometry>
      <material name="">
        <color rgba="7.50E-01 7.50E-01 7.50E-01 1"/>
      </material>
    </visual>
    <collision>
      <origin rpy="0 0 0" xyz="0 0 0"/>
      <geometry>
        <mesh filename="ca95ce22929fd53a570c6c691c987a8_convex_piece_78.obj" scale="1.0000E+00"/>
      </geometry>
    </collision>
  </link>
  <joint name="link_ca95ce22929fd53a570c6c691c987a8_convex_piece_78_joint" type="fixed">
    <origin rpy="0 0 0" xyz="0 0 0"/>
    <parent link="link_ca95ce22929fd53a570c6c691c987a8_convex_piece_77"/>
    <child link="link_ca95ce22929fd53a570c6c691c987a8_convex_piece_78"/>
  </joint>
  <link name="link_ca95ce22929fd53a570c6c691c987a8_convex_piece_79">
    <inertial>
      <origin rpy="0 0 0" xyz="0 0 0"/>
      <mass value="1.64E-08"/>
      <inertia ixx="9.57E-13" ixy="1.73E-13" ixz="-1.29E-12" iyy="1.20E-12" iyz="-1.15E-12" izz="4.10E-13"/>
    </inertial>
    <visual>
      <origin rpy="0 0 0" xyz="0 0 0"/>
      <geometry>
        <mesh filename="ca95ce22929fd53a570c6c691c987a8_convex_piece_79.obj" scale="1.0000E+00"/>
      </geometry>
      <material name="">
        <color rgba="7.50E-01 7.50E-01 7.50E-01 1"/>
      </material>
    </visual>
    <collision>
      <origin rpy="0 0 0" xyz="0 0 0"/>
      <geometry>
        <mesh filename="ca95ce22929fd53a570c6c691c987a8_convex_piece_79.obj" scale="1.0000E+00"/>
      </geometry>
    </collision>
  </link>
  <joint name="link_ca95ce22929fd53a570c6c691c987a8_convex_piece_79_joint" type="fixed">
    <origin rpy="0 0 0" xyz="0 0 0"/>
    <parent link="link_ca95ce22929fd53a570c6c691c987a8_convex_piece_78"/>
    <child link="link_ca95ce22929fd53a570c6c691c987a8_convex_piece_79"/>
  </joint>
  <link name="link_ca95ce22929fd53a570c6c691c987a8_convex_piece_80">
    <inertial>
      <origin rpy="0 0 0" xyz="0 0 0"/>
      <mass value="2.23E-08"/>
      <inertia ixx="1.23E-12" ixy="-1.41E-13" ixz="1.68E-12" iyy="1.53E-12" iyz="-1.24E-12" izz="4.23E-13"/>
    </inertial>
    <visual>
      <origin rpy="0 0 0" xyz="0 0 0"/>
      <geometry>
        <mesh filename="ca95ce22929fd53a570c6c691c987a8_convex_piece_80.obj" scale="1.0000E+00"/>
      </geometry>
      <material name="">
        <color rgba="7.50E-01 7.50E-01 7.50E-01 1"/>
      </material>
    </visual>
    <collision>
      <origin rpy="0 0 0" xyz="0 0 0"/>
      <geometry>
        <mesh filename="ca95ce22929fd53a570c6c691c987a8_convex_piece_80.obj" scale="1.0000E+00"/>
      </geometry>
    </collision>
  </link>
  <joint name="link_ca95ce22929fd53a570c6c691c987a8_convex_piece_80_joint" type="fixed">
    <origin rpy="0 0 0" xyz="0 0 0"/>
    <parent link="link_ca95ce22929fd53a570c6c691c987a8_convex_piece_79"/>
    <child link="link_ca95ce22929fd53a570c6c691c987a8_convex_piece_80"/>
  </joint>
  <link name="link_ca95ce22929fd53a570c6c691c987a8_convex_piece_81">
    <inertial>
      <origin rpy="0 0 0" xyz="0 0 0"/>
      <mass value="1.48E-08"/>
      <inertia ixx="7.47E-12" ixy="-6.80E-15" ixz="9.17E-14" iyy="3.07E-12" iyz="-6.55E-12" izz="4.63E-12"/>
    </inertial>
    <visual>
      <origin rpy="0 0 0" xyz="0 0 0"/>
      <geometry>
        <mesh filename="ca95ce22929fd53a570c6c691c987a8_convex_piece_81.obj" scale="1.0000E+00"/>
      </geometry>
      <material name="">
        <color rgba="7.50E-01 7.50E-01 7.50E-01 1"/>
      </material>
    </visual>
    <collision>
      <origin rpy="0 0 0" xyz="0 0 0"/>
      <geometry>
        <mesh filename="ca95ce22929fd53a570c6c691c987a8_convex_piece_81.obj" scale="1.0000E+00"/>
      </geometry>
    </collision>
  </link>
  <joint name="link_ca95ce22929fd53a570c6c691c987a8_convex_piece_81_joint" type="fixed">
    <origin rpy="0 0 0" xyz="0 0 0"/>
    <parent link="link_ca95ce22929fd53a570c6c691c987a8_convex_piece_80"/>
    <child link="link_ca95ce22929fd53a570c6c691c987a8_convex_piece_81"/>
  </joint>
</robot>
